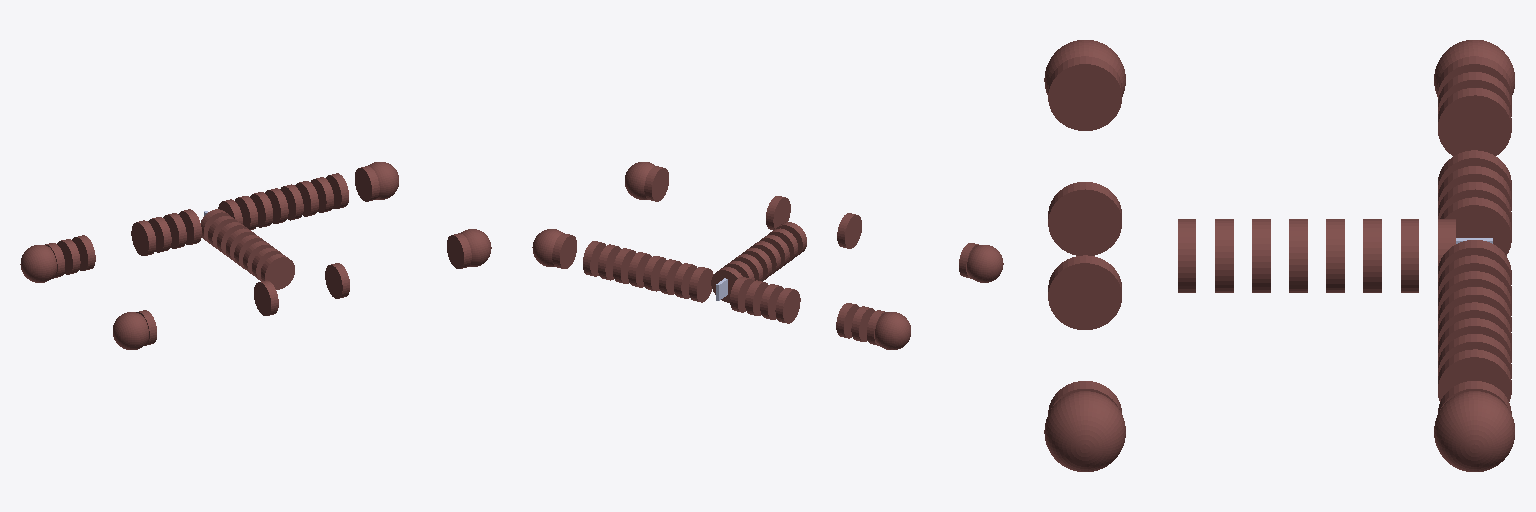
--- Facts derived from the render (not from the file) ---
3 views of the same robot in one strip: view 1: azimuth 30°, elevation 25°; view 2: azimuth 150°, elevation 25°; view 3: azimuth 270°, elevation 25° (orthographic).
Model fullurdf2 with 52 links and 51 joints (45 revolute, 6 fixed), rooted at base_link, posed every joint at zero.
Visible links, largest first — view 1: sec40, sec20, sec50, sec30, sec03, sec12, sec22, sec44, sec42, sec34, sec48, sec36 (+7 smaller); view 2: sec50, sec30, sec40, sec20, sec22, sec44, sec31, sec12, sec49, sec43, sec34, sec41 (+8 smaller); view 3: sec20, sec30, sec40, sec12, sec22, sec48, sec50, sec41, sec38, sec04, sec05, sec06 (+16 smaller).
Link boxes in pixels (box(x1,y1,x2,y2)): sec40: box(355, 162, 398, 201); sec20: box(447, 229, 491, 268); sec50: box(20, 243, 64, 282); sec30: box(113, 310, 156, 349); sec03: box(261, 254, 294, 289); sec12: box(325, 263, 349, 298); sec22: box(254, 280, 278, 315); sec44: box(131, 220, 155, 255); sec42: box(163, 213, 186, 248); sec34: box(265, 188, 288, 223); sec48: box(72, 235, 95, 270); sec36: box(295, 181, 318, 216); sec50: box(867, 310, 910, 349); sec30: box(959, 243, 1003, 282); sec40: box(532, 229, 576, 268); sec20: box(625, 162, 668, 201); sec22: box(837, 213, 861, 248); sec44: box(775, 288, 800, 323); sec31: box(689, 267, 713, 302); sec12: box(766, 196, 790, 229); sec49: box(851, 306, 874, 341); sec43: box(760, 284, 783, 319); sec34: box(643, 256, 666, 291); sec41: box(730, 277, 753, 312); sec20: box(1044, 381, 1125, 471); sec30: box(1044, 40, 1125, 130); sec40: box(1434, 381, 1514, 471); sec12: box(1048, 255, 1121, 329); sec22: box(1048, 182, 1121, 255); sec48: box(1438, 88, 1511, 155); sec50: box(1434, 40, 1514, 101); sec41: box(1440, 197, 1511, 255); sec38: box(1438, 349, 1511, 401); sec04: box(1215, 219, 1233, 292); sec05: box(1252, 219, 1270, 292); sec06: box(1289, 219, 1307, 292).
Size in the robot's own frame: 0.2462 by 0.127 by 0.022 metres.
Meshes: 52 distinct files referenced, 29 mesh visuals loaded (29 binary STL); not drawn: 23 (reference not matched to a file when rendering).

The robot description file, URDF, robot "fullurdf2":
<?xml version="1.0" encoding="utf-8"?>
<!-- This URDF was automatically created by SolidWorks to URDF Exporter! Originally created by Stephen Brawner ([email redacted]) 
     Commit Version: 1.6.0-4-g7f85cfe  Build Version: 1.6.7995.38578
     For more information, please see http://wiki.ros.org/sw_urdf_exporter -->
<robot
  name="fullurdf2">
  <link
    name="base_link">
    <inertial>
      <origin
        xyz="2.27682456221956E-18 -0.005 0"
        rpy="0 0 0" />
      <mass
        value="0.0002" />
      <inertia
        ixx="3.33333333333334E-09"
        ixy="1.72329294281881E-26"
        ixz="3.0309750528515E-26"
        iyy="1.73333333333333E-09"
        iyz="-8.32068698519475E-26"
        izz="1.73333333333333E-09" />
    </inertial>
    <visual>
      <origin
        xyz="0 0 0"
        rpy="0 0 0" />
      <geometry>
        <mesh
          filename="package://fullurdf2/meshes/base_link.STL" />
      </geometry>
      <material
        name="">
        <color
          rgba="0.792156862745098 0.819607843137255 0.933333333333333 1" />
      </material>
    </visual>
    <collision>
      <origin
        xyz="0 0 0"
        rpy="0 0 0" />
      <geometry>
        <mesh
          filename="package://fullurdf2/meshes/base_link.STL" />
      </geometry>
    </collision>
  </link>
  <link
    name="sec01">
    <inertial>
      <origin
        xyz="7.58941520739853E-19 0 0"
        rpy="0 0 0" />
      <mass
        value="0.0139800873084746" />
      <inertia
        ixx="3.7862736460452E-07"
        ixy="4.21411460173609E-39"
        ixz="1.77231475113485E-55"
        iyy="6.99004365423729E-07"
        iyz="6.75401820523941E-40"
        izz="3.7862736460452E-07" />
    </inertial>
    <visual>
      <origin
        xyz="0 0 0"
        rpy="0 0 0" />
      <geometry>
        <mesh
          filename="package://fullurdf2/meshes/sec01.STL" />
      </geometry>
      <material
        name="">
        <color
          rgba="0.537254901960784 0.349019607843137 0.337254901960784 1" />
      </material>
    </visual>
    <collision>
      <origin
        xyz="0 0 0"
        rpy="0 0 0" />
      <geometry>
        <mesh
          filename="package://fullurdf2/meshes/sec01.STL" />
      </geometry>
    </collision>
  </link>
  <joint
    name="joint01"
    type="fixed">
    <origin
      xyz="0 0 0"
      rpy="0 0 0" />
    <parent
      link="base_link" />
    <child
      link="sec01" />
    <axis
      xyz="0 0 0" />
	<dynamics damping="0.00001" friction="0.1"/>
    <limit
      lower="-1.571"
      upper="1.571"
      effort="100"
      velocity="500" />
  </joint>
  <link
    name="sec02">
    <inertial>
      <origin
        xyz="4.33680868994202E-19 0 0"
        rpy="0 0 0" />
      <mass
        value="0.0139800873084746" />
      <inertia
        ixx="3.7862736460452E-07"
        ixy="4.90793830114796E-24"
        ixz="-9.81587660229593E-24"
        iyy="6.99004365423729E-07"
        iyz="-1.22698457528699E-24"
        izz="3.7862736460452E-07" />
    </inertial>
    <visual>
      <origin
        xyz="0 0 0"
        rpy="0 0 0" />
      <geometry>
        <mesh
          filename="package://fullurdf2/meshes/sec02.STL" />
      </geometry>
      <material
        name="">
        <color
          rgba="0.537254901960784 0.349019607843137 0.337254901960784 1" />
      </material>
    </visual>
    <collision>
      <origin
        xyz="0 0 0"
        rpy="0 0 0" />
      <geometry>
        <mesh
          filename="package://fullurdf2/meshes/sec02.STL" />
      </geometry>
    </collision>
  </link>
  <joint
    name="joint02"
    type="revolute">
    <origin
      xyz="0 0.01 0"
      rpy="0 0 0" />
    <parent
      link="sec01" />
    <child
      link="sec02" />
    <axis
      xyz="1 0 0" />
	<dynamics damping="0.00001" friction="0.1"/>
    <limit
      lower="-1.571"
      upper="1.571"
      effort="100"
      velocity="500" />
  </joint>
  <link
    name="sec03">
    <inertial>
      <origin
        xyz="2.71050543121376E-19 0 0"
        rpy="0 0 0" />
      <mass
        value="0.0139800873084746" />
      <inertia
        ixx="3.7862736460452E-07"
        ixy="-4.90793830114797E-24"
        ixz="-3.58892988271445E-23"
        iyy="6.99004365423729E-07"
        iyz="2.45396915057398E-24"
        izz="3.7862736460452E-07" />
    </inertial>
    <visual>
      <origin
        xyz="0 0 0"
        rpy="0 0 0" />
      <geometry>
        <mesh
          filename="package://fullurdf2/meshes/sec03.STL" />
      </geometry>
      <material
        name="">
        <color
          rgba="0.537254901960784 0.349019607843137 0.337254901960784 1" />
      </material>
    </visual>
    <collision>
      <origin
        xyz="0 0 0"
        rpy="0 0 0" />
      <geometry>
        <mesh
          filename="package://fullurdf2/meshes/sec03.STL" />
      </geometry>
    </collision>
  </link>
  <joint
    name="joint03"
    type="revolute">
    <origin
      xyz="0 0.01 0"
      rpy="0 0 0" />
    <parent
      link="sec02" />
    <child
      link="sec03" />
    <axis
      xyz="1 0 0" />
	<dynamics damping="0.00001" friction="0.1"/>
    <limit
      lower="-1.571"
      upper="1.571"
      effort="100"
      velocity="500" />
  </joint>
  <link
    name="sec04">
    <inertial>
      <origin
        xyz="-3.25260651745651E-19 0 0"
        rpy="0 0 0" />
      <mass
        value="0.0139800873084746" />
      <inertia
        ixx="3.7862736460452E-07"
        ixy="4.90793830114798E-24"
        ixz="-4.90793830114797E-23"
        iyy="6.99004365423729E-07"
        iyz="-1.0278932676585E-38"
        izz="3.7862736460452E-07" />
    </inertial>
    <visual>
      <origin
        xyz="0 0 0"
        rpy="0 0 0" />
      <geometry>
        <mesh
          filename="package://fullurdf2/meshes/sec04.STL" />
      </geometry>
      <material
        name="">
        <color
          rgba="0.537254901960784 0.349019607843137 0.337254901960784 1" />
      </material>
    </visual>
    <collision>
      <origin
        xyz="0 0 0"
        rpy="0 0 0" />
      <geometry>
        <mesh
          filename="package://fullurdf2/meshes/sec04.STL" />
      </geometry>
    </collision>
  </link>
  <joint
    name="joint04"
    type="revolute">
    <origin
      xyz="0 0.01 0"
      rpy="0 0 0" />
    <parent
      link="sec03" />
    <child
      link="sec04" />
    <axis
      xyz="1 0 0" />
	<dynamics damping="0.00001" friction="0.1"/>
    <limit
      lower="-1.571"
      upper="1.571"
      effort="100"
      velocity="500" />
  </joint>
  <link
    name="sec05">
    <inertial>
      <origin
        xyz="-2.16840434497101E-19 0 0"
        rpy="0 0 0" />
      <mass
        value="0.0139800873084746" />
      <inertia
        ixx="3.7862736460452E-07"
        ixy="-2.45396915057397E-24"
        ixz="-1.71777840540178E-23"
        iyy="6.99004365423729E-07"
        iyz="-4.20247128011324E-40"
        izz="3.7862736460452E-07" />
    </inertial>
    <visual>
      <origin
        xyz="0 0 0"
        rpy="0 0 0" />
      <geometry>
        <mesh
          filename="package://fullurdf2/meshes/sec05.STL" />
      </geometry>
      <material
        name="">
        <color
          rgba="0.537254901960784 0.349019607843137 0.337254901960784 1" />
      </material>
    </visual>
    <collision>
      <origin
        xyz="0 0 0"
        rpy="0 0 0" />
      <geometry>
        <mesh
          filename="package://fullurdf2/meshes/sec05.STL" />
      </geometry>
    </collision>
  </link>
  <joint
    name="joint05"
    type="revolute">
    <origin
      xyz="0 0.01 0"
      rpy="0 0 0" />
    <parent
      link="sec04" />
    <child
      link="sec05" />
    <axis
      xyz="1 0 0" />
	<dynamics damping="0.00001" friction="0.1"/>
    <limit
      lower="-1.571"
      upper="1.571"
      effort="100"
      velocity="500" />
  </joint>
  <link
    name="sec06">
    <inertial>
      <origin
        xyz="-1.95156391047391E-18 0 -3.46944695195361E-18"
        rpy="0 0 0" />
      <mass
        value="0.0139800873084746" />
      <inertia
        ixx="3.7862736460452E-07"
        ixy="1.22698457528699E-24"
        ixz="-5.67480366070232E-24"
        iyy="6.99004365423729E-07"
        iyz="3.00761747842062E-38"
        izz="3.7862736460452E-07" />
    </inertial>
    <visual>
      <origin
        xyz="0 0 0"
        rpy="0 0 0" />
      <geometry>
        <mesh
          filename="package://fullurdf2/meshes/sec06.STL" />
      </geometry>
      <material
        name="">
        <color
          rgba="0.537254901960784 0.349019607843137 0.337254901960784 1" />
      </material>
    </visual>
    <collision>
      <origin
        xyz="0 0 0"
        rpy="0 0 0" />
      <geometry>
        <mesh
          filename="package://fullurdf2/meshes/sec06.STL" />
      </geometry>
    </collision>
  </link>
  <joint
    name="joint06"
    type="revolute">
    <origin
      xyz="0 0.01 0"
      rpy="0 0 0" />
    <parent
      link="sec05" />
    <child
      link="sec06" />
    <axis
      xyz="1 0 0" />
	<dynamics damping="0.00001" friction="0.1"/>
    <limit
      lower="-1.571"
      upper="1.571"
      effort="100"
      velocity="500" />
  </joint>
  <link
    name="sec07">
    <inertial>
      <origin
        xyz="-1.84314369322536E-18 0 -1.73472347597681E-18"
        rpy="0 0 0" />
      <mass
        value="0.0139800873084746" />
      <inertia
        ixx="3.7862736460452E-07"
        ixy="-1.67610990985475E-38"
        ixz="2.09237994446367E-37"
        iyy="6.99004365423729E-07"
        iyz="1.68127027333929E-38"
        izz="3.7862736460452E-07" />
    </inertial>
    <visual>
      <origin
        xyz="0 0 0"
        rpy="0 0 0" />
      <geometry>
        <mesh
          filename="package://fullurdf2/meshes/sec07.STL" />
      </geometry>
      <material
        name="">
        <color
          rgba="0.537254901960784 0.349019607843137 0.337254901960784 1" />
      </material>
    </visual>
    <collision>
      <origin
        xyz="0 0 0"
        rpy="0 0 0" />
      <geometry>
        <mesh
          filename="package://fullurdf2/meshes/sec07.STL" />
      </geometry>
    </collision>
  </link>
  <joint
    name="joint07"
    type="revolute">
    <origin
      xyz="0 0.01 0"
      rpy="0 0 0" />
    <parent
      link="sec06" />
    <child
      link="sec07" />
    <axis
      xyz="1 0 0" />
	<dynamics damping="0.00001" friction="0.1"/>
    <limit
      lower="-1.571"
      upper="1.571"
      effort="100"
      velocity="500" />
  </joint>
  <link
    name="sec08">
    <inertial>
      <origin
        xyz="-1.62630325872826E-18 0 -1.73472347597681E-18"
        rpy="0 0 0" />
      <mass
        value="0.0139800873084746" />
      <inertia
        ixx="3.7862736460452E-07"
        ixy="-2.45396915057397E-24"
        ixz="-8.82039613106783E-40"
        iyy="6.99004365423729E-07"
        iyz="1.46923067573066E-39"
        izz="3.7862736460452E-07" />
    </inertial>
    <visual>
      <origin
        xyz="0 0 0"
        rpy="0 0 0" />
      <geometry>
        <mesh
          filename="package://fullurdf2/meshes/sec08.STL" />
      </geometry>
      <material
        name="">
        <color
          rgba="0.537254901960784 0.349019607843137 0.337254901960784 1" />
      </material>
    </visual>
    <collision>
      <origin
        xyz="0 0 0"
        rpy="0 0 0" />
      <geometry>
        <mesh
          filename="package://fullurdf2/meshes/sec08.STL" />
      </geometry>
    </collision>
  </link>
  <joint
    name="joint08"
    type="revolute">
    <origin
      xyz="0 0.01 0"
      rpy="0 0 0" />
    <parent
      link="sec07" />
    <child
      link="sec08" />
    <axis
      xyz="1 0 0" />
	<dynamics damping="0.00001" friction="0.1"/>
    <limit
      lower="-1.571"
      upper="1.571"
      effort="100"
      velocity="500" />
  </joint>
  <link
    name="sec09">
    <inertial>
      <origin
        xyz="-1.68051336735253E-18 0 0"
        rpy="0 0 0" />
      <mass
        value="0.0139800873084746" />
      <inertia
        ixx="3.7862736460452E-07"
        ixy="5.11563180875594E-40"
        ixz="3.92635064091837E-23"
        iyy="6.9900436542373E-07"
        iyz="-2.95351140186029E-40"
        izz="3.7862736460452E-07" />
    </inertial>
    <visual>
      <origin
        xyz="0 0 0"
        rpy="0 0 0" />
      <geometry>
        <mesh
          filename="package://fullurdf2/meshes/sec09.STL" />
      </geometry>
      <material
        name="">
        <color
          rgba="0.537254901960784 0.349019607843137 0.337254901960784 1" />
      </material>
    </visual>
    <collision>
      <origin
        xyz="0 0 0"
        rpy="0 0 0" />
      <geometry>
        <mesh
          filename="package://fullurdf2/meshes/sec09.STL" />
      </geometry>
    </collision>
  </link>
  <joint
    name="joint09"
    type="revolute">
    <origin
      xyz="0 0.01 0"
      rpy="0 0 0" />
    <parent
      link="sec08" />
    <child
      link="sec09" />
    <axis
      xyz="1 0 0" />
	<dynamics damping="0.00001" friction="0.1"/>
    <limit
      lower="-1.571"
      upper="1.571"
      effort="100"
      velocity="500" />
  </joint>
  <link
    name="sec10">
    <inertial>
      <origin
        xyz="-3.41523684332934E-18 0 0"
        rpy="0 0 0" />
      <mass
        value="0.0139800873084746" />
      <inertia
        ixx="3.7862736460452E-07"
        ixy="9.81587660229594E-24"
        ixz="6.13492287643496E-23"
        iyy="6.9900436542373E-07"
        iyz="4.90793830114797E-24"
        izz="3.7862736460452E-07" />
    </inertial>
    <visual>
      <origin
        xyz="0 0 0"
        rpy="0 0 0" />
      <geometry>
        <mesh
          filename="package://fullurdf2/meshes/sec10.STL" />
      </geometry>
      <material
        name="">
        <color
          rgba="0.537254901960784 0.349019607843137 0.337254901960784 1" />
      </material>
    </visual>
    <collision>
      <origin
        xyz="0 0 0"
        rpy="0 0 0" />
      <geometry>
        <mesh
          filename="package://fullurdf2/meshes/sec10.STL" />
      </geometry>
    </collision>
  </link>
  <joint
    name="joint10"
    type="revolute">
    <origin
      xyz="0 0.01 0"
      rpy="0 0 0" />
    <parent
      link="sec09" />
    <child
      link="sec10" />
    <axis
      xyz="1 0 0" />
	<dynamics damping="0.00001" friction="0.1"/>
    <limit
      lower="-1.571"
      upper="1.571"
      effort="100"
      velocity="500" />
  </joint>
  <link
    name="base02">
    <inertial>
      <origin
        xyz="-4.55364912443912E-18 0.01 0"
        rpy="0 0 0" />
      <mass
        value="0.0002" />
      <inertia
        ixx="3.33333333333334E-09"
        ixy="1.13745407508819E-26"
        ixz="-5.93103932846684E-26"
        iyy="1.73333333333334E-09"
        iyz="4.82446101602762E-25"
        izz="1.73333333333334E-09" />
    </inertial>
    <visual>
      <origin
        xyz="0 0 0"
        rpy="0 0 0" />
      <geometry>
        <mesh
          filename="package://fullurdf2/meshes/base02.STL" />
      </geometry>
      <material
        name="">
        <color
          rgba="0.792156862745098 0.819607843137255 0.933333333333333 1" />
      </material>
    </visual>
    <collision>
      <origin
        xyz="0 0 0"
        rpy="0 0 0" />
      <geometry>
        <mesh
          filename="package://fullurdf2/meshes/base02.STL" />
      </geometry>
    </collision>
  </link>
  <joint
    name="basejoint02"
    type="fixed">
    <origin
      xyz="0 0 0"
      rpy="0 0 0" />
    <parent
      link="sec10" />
    <child
      link="base02" />
    <axis
      xyz="0 0 0" />
  </joint>
  <link
    name="sec31">
    <inertial>
      <origin
        xyz="0.0025 -1.38777878078145E-17 0"
        rpy="0 0 0" />
      <mass
        value="0.0139800873084746" />
      <inertia
        ixx="6.99004365423729E-07"
        ixy="-1.43749224972972E-23"
        ixz="1.20526705403392E-22"
        iyy="3.7862736460452E-07"
        iyz="-3.92635064091837E-23"
        izz="3.7862736460452E-07" />
    </inertial>
    <visual>
      <origin
        xyz="0 0 0"
        rpy="0 0 0" />
      <geometry>
        <mesh
          filename="package://fullurdf2/meshes/sec31.STL" />
      </geometry>
      <material
        name="">
        <color
          rgba="0.537254901960784 0.349019607843137 0.337254901960784 1" />
      </material>
    </visual>
    <collision>
      <origin
        xyz="0 0 0"
        rpy="0 0 0" />
      <geometry>
        <mesh
          filename="package://fullurdf2/meshes/sec31.STL" />
      </geometry>
    </collision>
  </link>
  <joint
    name="joint31"
    type="fixed">
    <origin
      xyz="0.011 0.01 0"
      rpy="-1.571 0 0" />
    <parent
      link="base02" />
    <child
      link="sec31" />
    <axis
      xyz="1 0 0" />
	<dynamics damping="0.00001" friction="0.1"/>
    <limit
      lower="-1.571"
      upper="1.571"
      effort="100"
      velocity="500" />
  </joint>
  <link
    name="sec32">
    <inertial>
      <origin
        xyz="0.0025 0 0"
        rpy="0 0 0" />
      <mass
        value="0.0139800873084746" />
      <inertia
        ixx="6.9900436542373E-07"
        ixy="-1.43749224972972E-23"
        ixz="1.20526705403392E-22"
        iyy="3.7862736460452E-07"
        iyz="-5.07664868024993E-23"
        izz="3.7862736460452E-07" />
    </inertial>
    <visual>
      <origin
        xyz="0 0 0"
        rpy="0 0 0" />
      <geometry>
        <mesh
          filename="package://fullurdf2/meshes/sec32.STL" />
      </geometry>
      <material
        name="">
        <color
          rgba="0.537254901960784 0.349019607843137 0.337254901960784 1" />
      </material>
    </visual>
    <collision>
      <origin
        xyz="0 0 0"
        rpy="0 0 0" />
      <geometry>
        <mesh
          filename="package://fullurdf2/meshes/sec32.STL" />
      </geometry>
    </collision>
  </link>
  <joint
    name="joint32"
    type="revolute">
    <origin
      xyz="0.01 0 0"
      rpy="0 0 0" />
    <parent
      link="sec31" />
    <child
      link="sec32" />
    <axis
      xyz="0 0 1" />
	<dynamics damping="0.00001" friction="0.1"/>
    <limit
      lower="-1.571"
      upper="1.571"
      effort="100"
      velocity="500" />
  </joint>
  <link
    name="sec33">
    <inertial>
      <origin
        xyz="0.0025 0 -5.20417042793042E-18"
        rpy="0 0 0" />
      <mass
        value="0.0139800873084746" />
      <inertia
        ixx="6.99004365423729E-07"
        ixy="-9.46698419614924E-24"
        ixz="1.22980674553966E-22"
        iyy="3.7862736460452E-07"
        iyz="-5.07664868024992E-23"
        izz="3.7862736460452E-07" />
    </inertial>
    <visual>
      <origin
        xyz="0 0 0"
        rpy="0 0 0" />
      <geometry>
        <mesh
          filename="package://fullurdf2/meshes/sec33.STL" />
      </geometry>
      <material
        name="">
        <color
          rgba="0.537254901960784 0.349019607843137 0.337254901960784 1" />
      </material>
    </visual>
    <collision>
      <origin
        xyz="0 0 0"
        rpy="0 0 0" />
      <geometry>
        <mesh
          filename="package://fullurdf2/meshes/sec33.STL" />
      </geometry>
    </collision>
  </link>
  <joint
    name="joint33"
    type="revolute">
    <origin
      xyz="0.01 0 0"
      rpy="0 0 0" />
    <parent
      link="sec32" />
    <child
      link="sec33" />
    <axis
      xyz="0 0 1" />
	<dynamics damping="0.00001" friction="0.1"/>
    <limit
      lower="-1.571"
      upper="1.571"
      effort="100"
      velocity="500" />
  </joint>
  <link
    name="sec34">
    <inertial>
      <origin
        xyz="0.00249999999999999 0 -6.93889390390723E-18"
        rpy="0 0 0" />
      <mass
        value="0.0139800873084746" />
      <inertia
        ixx="6.99004365423729E-07"
        ixy="-9.46698419614924E-24"
        ixz="1.22980674553966E-22"
        iyy="3.7862736460452E-07"
        iyz="-5.07664868024993E-23"
        izz="3.7862736460452E-07" />
    </inertial>
    <visual>
      <origin
        xyz="0 0 0"
        rpy="0 0 0" />
      <geometry>
        <mesh
          filename="package://fullurdf2/meshes/sec34.STL" />
      </geometry>
      <material
        name="">
        <color
          rgba="0.537254901960784 0.349019607843137 0.337254901960784 1" />
      </material>
    </visual>
    <collision>
      <origin
        xyz="0 0 0"
        rpy="0 0 0" />
      <geometry>
        <mesh
          filename="package://fullurdf2/meshes/sec34.STL" />
      </geometry>
    </collision>
  </link>
  <joint
    name="joint34"
    type="revolute">
    <origin
      xyz="0.01 0 0"
      rpy="0 0 0" />
    <parent
      link="sec33" />
    <child
      link="sec34" />
    <axis
      xyz="0 0 1" />
	<dynamics damping="0.00001" friction="0.1"/>
    <limit
      lower="-1.571"
      upper="1.571"
      effort="100"
      velocity="500" />
  </joint>
  <link
    name="sec35">
    <inertial>
      <origin
        xyz="0.0025 0 -5.20417042793042E-18"
        rpy="0 0 0" />
      <mass
        value="0.0139800873084746" />
      <inertia
        ixx="6.99004365423729E-07"
        ixy="-1.43749224972973E-23"
        ixz="1.2543464370454E-22"
        iyy="3.7862736460452E-07"
        iyz="-5.07664868024992E-23"
        izz="3.7862736460452E-07" />
    </inertial>
    <visual>
      <origin
        xyz="0 0 0"
        rpy="0 0 0" />
      <geometry>
        <mesh
          filename="package://fullurdf2/meshes/sec35.STL" />
      </geometry>
      <material
        name="">
        <color
          rgba="0.537254901960784 0.349019607843137 0.337254901960784 1" />
      </material>
    </visual>
    <collision>
      <origin
        xyz="0 0 0"
        rpy="0 0 0" />
      <geometry>
        <mesh
          filename="package://fullurdf2/meshes/sec35.STL" />
      </geometry>
    </collision>
  </link>
  <joint
    name="joint35"
    type="revolute">
    <origin
      xyz="0.01 0 0"
      rpy="0 0 0" />
    <parent
      link="sec34" />
    <child
      link="sec35" />
    <axis
      xyz="0 0 1" />
	<dynamics damping="0.00001" friction="0.1"/>
    <limit
      lower="-1.571"
      upper="1.571"
      effort="100"
      velocity="500" />
  </joint>
  <link
    name="sec36">
    <inertial>
      <origin
        xyz="0.0025 1.38777878078145E-17 -5.20417042793042E-18"
        rpy="0 0 0" />
      <mass
        value="0.0139800873084746" />
      <inertia
        ixx="6.9900436542373E-07"
        ixy="-1.43749224972972E-23"
        ixz="1.22980674553966E-22"
        iyy="3.7862736460452E-07"
        iyz="-5.07664868024992E-23"
        izz="3.7862736460452E-07" />
    </inertial>
    <visual>
      <origin
        xyz="0 0 0"
        rpy="0 0 0" />
      <geometry>
        <mesh
          filename="package://fullurdf2/meshes/sec36.STL" />
      </geometry>
      <material
        name="">
        <color
          rgba="0.537254901960784 0.349019607843137 0.337254901960784 1" />
      </material>
    </visual>
    <collision>
      <origin
        xyz="0 0 0"
        rpy="0 0 0" />
      <geometry>
        <mesh
          filename="package://fullurdf2/meshes/sec36.STL" />
      </geometry>
    </collision>
  </link>
  <joint
    name="joint36"
    type="revolute">
    <origin
      xyz="0.01 0 0"
      rpy="0 0 0" />
    <parent
      link="sec35" />
    <child
      link="sec36" />
    <axis
      xyz="0 0 1" />
	<dynamics damping="0.00001" friction="0.1"/>
    <limit
      lower="-1.571"
      upper="1.571"
      effort="100"
      velocity="500" />
  </joint>
  <link
    name="sec37">
    <inertial>
      <origin
        xyz="0.0025 1.38777878078145E-17 -5.20417042793042E-18"
        rpy="0 0 0" />
      <mass
        value="0.0139800873084746" />
      <inertia
        ixx="6.9900436542373E-07"
        ixy="-1.43749224972972E-23"
        ixz="1.22980674553966E-22"
        iyy="3.7862736460452E-07"
        iyz="-5.07664868024992E-23"
        izz="3.7862736460452E-07" />
    </inertial>
    <visual>
      <origin
        xyz="0 0 0"
        rpy="0 0 0" />
      <geometry>
        <mesh
          filename="package://fullurdf2/meshes/sec37.STL" />
      </geometry>
      <material
        name="">
        <color
          rgba="0.537254901960784 0.349019607843137 0.337254901960784 1" />
      </material>
    </visual>
    <collision>
      <origin
        xyz="0 0 0"
        rpy="0 0 0" />
      <geometry>
        <mesh
          filename="package://fullurdf2/meshes/sec37.STL" />
      </geometry>
    </collision>
  </link>
  <joint
    name="joint37"
    type="revolute">
    <origin
      xyz="0.01 0 0"
      rpy="0 0 0" />
    <parent
      link="sec36" />
    <child
      link="sec37" />
    <axis
      xyz="0 0 1" />
	<dynamics damping="0.00001" friction="0.1"/>
    <limit
      lower="-1.571"
      upper="1.571"
      effort="100"
      velocity="500" />
  </joint>
  <link
    name="sec38">
    <inertial>
      <origin
        xyz="0.0025 1.38777878078145E-17 -5.20417042793042E-18"
        rpy="0 0 0" />
      <mass
        value="0.0139800873084746" />
      <inertia
        ixx="6.9900436542373E-07"
        ixy="-1.43749224972972E-23"
        ixz="1.2543464370454E-22"
        iyy="3.7862736460452E-07"
        iyz="-5.07664868024993E-23"
        izz="3.7862736460452E-07" />
    </inertial>
    <visual>
      <origin
        xyz="0 0 0"
        rpy="0 0 0" />
      <geometry>
        <mesh
          filename="package://fullurdf2/meshes/sec38.STL" />
      </geometry>
      <material
        name="">
        <color
          rgba="0.537254901960784 0.349019607843137 0.337254901960784 1" />
      </material>
    </visual>
    <collision>
      <origin
        xyz="0 0 0"
        rpy="0 0 0" />
      <geometry>
        <mesh
          filename="package://fullurdf2/meshes/sec38.STL" />
      </geometry>
    </collision>
  </link>
  <joint
    name="joint38"
    type="revolute">
    <origin
      xyz="0.01 0 0"
      rpy="0 0 0" />
    <parent
      link="sec37" />
    <child
      link="sec38" />
    <axis
      xyz="0 0 1" />
	<dynamics damping="0.00001" friction="0.1"/>
    <limit
      lower="-1.571"
      upper="1.571"
      effort="100"
      velocity="500" />
  </joint>
  <link
    name="sec39">
    <inertial>
      <origin
        xyz="0.0025 1.3878E-17 -6.9389E-18"
        rpy="0 0 0" />
      <mass
        value="0.01398" />
      <inertia
        ixx="6.99E-07"
        ixy="-1.4375E-23"
        ixz="1.2298E-22"
        iyy="3.7863E-07"
        iyz="-5.0766E-23"
        izz="3.7863E-07" />
    </inertial>
    <visual>
      <origin
        xyz="0 0 0"
        rpy="0 0 0" />
      <geometry>
        <mesh
          filename="package://fullurdf2/meshes/sec39.STL" />
      </geometry>
      <material
        name="">
        <color
          rgba="0.53725 0.34902 0.33725 1" />
      </material>
    </visual>
    <collision>
      <origin
        xyz="0 0 0"
        rpy="0 0 0" />
      <geometry>
        <mesh
          filename="package://fullurdf2/meshes/sec39.STL" />
      </geometry>
    </collision>
  </link>
  <joint
    name="joint39"
    type="revolute">
    <origin
      xyz="0.01 0 0"
      rpy="0 0 0" />
    <parent
      link="sec38" />
    <child
      link="sec39" />
    <axis
      xyz="0 0 1" />
	<dynamics damping="0.00001" friction="0.1"/>
    <limit
      lower="-1.571"
      upper="1.571"
      effort="100"
      velocity="500" />
  </joint>
  <link
    name="sec40">
    <inertial>
      <origin
        xyz="0.0098619 -1.3878E-17 -3.4694E-18"
        rpy="0 0 0" />
      <mass
        value="0.057326" />
      <inertia
        ixx="2.9166E-06"
        ixy="6.5493E-24"
        ixz="3.6283E-22"
        iyy="2.2417E-06"
        iyz="1.6868E-23"
        izz="2.2417E-06" />
    </inertial>
    <visual>
      <origin
        xyz="0 0 0"
        rpy="0 0 0" />
      <geometry>
        <mesh
          filename="package://fullurdf2/meshes/sec40.STL" />
      </geometry>
      <material
        name="">
        <color
          rgba="0.53725 0.34902 0.33725 1" />
      </material>
    </visual>
    <collision>
      <origin
        xyz="0 0 0"
        rpy="0 0 0" />
      <geometry>
        <mesh
          filename="package://fullurdf2/meshes/sec40.STL" />
      </geometry>
    </collision>
  </link>
  <joint
    name="joint40"
    type="revolute">
    <origin
      xyz="0.01 0 0"
      rpy="0 0 0" />
    <parent
      link="sec39" />
    <child
      link="sec40" />
    <axis
      xyz="0 0 1" />
	<dynamics damping="0.00001" friction="0.1"/>
    <limit
      lower="-1.571"
      upper="1.571"
      effort="100"
      velocity="500" />
  </joint>
  <link
    name="sec41">
    <inertial>
      <origin
        xyz="-0.0025 -1.38777878078145E-17 -1.73472347597681E-18"
        rpy="0 0 0" />
      <mass
        value="0.0139800873084746" />
      <inertia
        ixx="6.99004365423729E-07"
        ixy="3.53648198512507E-25"
        ixz="-3.48660332929381E-23"
        iyy="3.7862736460452E-07"
        iyz="1.62575456225526E-23"
        izz="3.7862736460452E-07" />
    </inertial>
    <visual>
      <origin
        xyz="0 0 0"
        rpy="0 0 0" />
      <geometry>
        <mesh
          filename="package://fullurdf2/meshes/sec41.STL" />
      </geometry>
      <material
        name="">
        <color
          rgba="0.537254901960784 0.349019607843137 0.337254901960784 1" />
      </material>
    </visual>
    <collision>
      <origin
        xyz="0 0 0"
        rpy="0 0 0" />
      <geometry>
        <mesh
          filename="package://fullurdf2/meshes/sec41.STL" />
      </geometry>
    </collision>
  </link>
  <joint
    name="joint41"
    type="fixed">
    <origin
      xyz="-0.011 0.01 0"
      rpy="1.571 0 0" />
    <parent
      link="base02" />
    <child
      link="sec41" />
    <axis
      xyz="1 0 1" />
	<dynamics damping="0.00001" friction="0.1"/>
    <limit
      lower="-1.571"
      upper="1.571"
      effort="100"
      velocity="500" />
  </joint>
  <link
    name="sec42">
    <inertial>
      <origin
        xyz="-0.0025 0 -5.20417042793042E-18"
        rpy="0 0 0" />
      <mass
        value="0.0139800873084746" />
      <inertia
        ixx="6.99004365423729E-07"
        ixy="3.53648198512512E-25"
        ixz="-3.48660332929381E-23"
        iyy="3.7862736460452E-07"
        iyz="-3.7729775690075E-23"
        izz="3.7862736460452E-07" />
    </inertial>
    <visual>
      <origin
        xyz="0 0 0"
        rpy="0 0 0" />
      <geometry>
        <mesh
          filename="package://fullurdf2/meshes/sec42.STL" />
      </geometry>
      <material
        name="">
        <color
          rgba="0.537254901960784 0.349019607843137 0.337254901960784 1" />
      </material>
    </visual>
    <collision>
      <origin
        xyz="0 0 0"
        rpy="0 0 0" />
      <geometry>
        <mesh
          filename="package://fullurdf2/meshes/sec42.STL" />
      </geometry>
    </collision>
  </link>
  <joint
    name="joint42"
    type="revolute">
    <origin
      xyz="-0.01 0 0"
      rpy="0 0 0" />
    <parent
      link="sec41" />
    <child
      link="sec42" />
    <axis
      xyz="0 0 1" />
	<dynamics damping="0.00001" friction="0.1"/>
    <limit
      lower="-1.571"
      upper="1.571"
      effort="100"
      velocity="500" />
  </joint>
  <link
    name="sec43">
    <inertial>
      <origin
        xyz="-0.0025 0 -6.93889390390723E-18"
        rpy="0 0 0" />
      <mass
        value="0.0139800873084746" />
      <inertia
        ixx="6.99004365423729E-07"
        ixy="5.26158649966047E-24"
        ixz="-4.4681909895234E-23"
        iyy="3.7862736460452E-07"
        iyz="-1.07361150337611E-23"
        izz="3.7862736460452E-07" />
    </inertial>
    <visual>
      <origin
        xyz="0 0 0"
        rpy="0 0 0" />
      <geometry>
        <mesh
          filename="package://fullurdf2/meshes/sec43.STL" />
      </geometry>
      <material
        name="">
        <color
          rgba="0.537254901960784 0.349019607843137 0.337254901960784 1" />
      </material>
    </visual>
    <collision>
      <origin
        xyz="0 0 0"
        rpy="0 0 0" />
      <geometry>
        <mesh
          filename="package://fullurdf2/meshes/sec43.STL" />
      </geometry>
    </collision>
  </link>
  <joint
    name="joint43"
    type="revolute">
    <origin
      xyz="-0.01 0 0"
      rpy="0 0 0" />
    <parent
      link="sec42" />
    <child
      link="sec43" />
    <axis
      xyz="0 0 1" />
	<dynamics damping="0.00001" friction="0.1"/>
    <limit
      lower="-1.571"
      upper="1.571"
      effort="100"
      velocity="500" />
  </joint>
  <link
    name="sec44">
    <inertial>
      <origin
        xyz="-0.0025 0 -5.20417042793042E-18"
        rpy="0 0 0" />
      <mass
        value="0.0139800873084746" />
      <inertia
        ixx="6.99004365423729E-07"
        ixy="2.80761734908649E-24"
        ixz="-3.9773971594086E-23"
        iyy="3.7862736460452E-07"
        iyz="1.62575456225526E-23"
        izz="3.7862736460452E-07" />
    </inertial>
    <visual>
      <origin
        xyz="0 0 0"
        rpy="0 0 0" />
      <geometry>
        <mesh
          filename="package://fullurdf2/meshes/sec44.STL" />
      </geometry>
      <material
        name="">
        <color
          rgba="0.537254901960784 0.349019607843137 0.337254901960784 1" />
      </material>
    </visual>
    <collision>
      <origin
        xyz="0 0 0"
        rpy="0 0 0" />
      <geometry>
        <mesh
          filename="package://fullurdf2/meshes/sec44.STL" />
      </geometry>
    </collision>
  </link>
  <joint
    name="joint44"
    type="revolute">
    <origin
      xyz="-0.01 0 0"
      rpy="0 0 0" />
    <parent
      link="sec43" />
    <child
      link="sec44" />
    <axis
      xyz="0 0 1" />
	<dynamics damping="0.00001" friction="0.1"/>
    <limit
      lower="-1.571"
      upper="1.571"
      effort="100"
      velocity="500" />
  </joint>
  <link
    name="sec45">
    <inertial>
      <origin
        xyz="-0.0025 0 -5.20417042793042E-18"
        rpy="0 0 0" />
      <mass
        value="0.0139800873084746" />
      <inertia
        ixx="6.99004365423729E-07"
        ixy="2.80761734908649E-24"
        ixz="-3.9773971594086E-23"
        iyy="3.7862736460452E-07"
        iyz="-3.7729775690075E-23"
        izz="3.7862736460452E-07" />
    </inertial>
    <visual>
      <origin
        xyz="0 0 0"
        rpy="0 0 0" />
      <geometry>
        <mesh
          filename="package://fullurdf2/meshes/sec45.STL" />
      </geometry>
      <material
        name="">
        <color
          rgba="0.537254901960784 0.349019607843137 0.337254901960784 1" />
      </material>
    </visual>
    <collision>
      <origin
        xyz="0 0 0"
        rpy="0 0 0" />
      <geometry>
        <mesh
          filename="package://fullurdf2/meshes/sec45.STL" />
      </geometry>
    </collision>
  </link>
  <joint
    name="joint45"
    type="revolute">
    <origin
      xyz="-0.01 0 0"
      rpy="0 0 0" />
    <parent
      link="sec44" />
    <child
      link="sec45" />
    <axis
      xyz="0 0 1" />
	<dynamics damping="0.00001" friction="0.1"/>
    <limit
      lower="-1.571"
      upper="1.571"
      effort="100"
      velocity="500" />
  </joint>
  <link
    name="sec46">
    <inertial>
      <origin
        xyz="-0.0025 0 -6.93889390390723E-18"
        rpy="0 0 0" />
      <mass
        value="0.0139800873084746" />
      <inertia
        ixx="6.99004365423729E-07"
        ixy="2.8076173490865E-24"
        ixz="-4.4681909895234E-23"
        iyy="3.7862736460452E-07"
        iyz="-1.07361150337612E-23"
        izz="3.7862736460452E-07" />
    </inertial>
    <visual>
      <origin
        xyz="0 0 0"
        rpy="0 0 0" />
      <geometry>
        <mesh
          filename="package://fullurdf2/meshes/sec46.STL" />
      </geometry>
      <material
        name="">
        <color
          rgba="0.537254901960784 0.349019607843137 0.337254901960784 1" />
      </material>
    </visual>
    <collision>
      <origin
        xyz="0 0 0"
        rpy="0 0 0" />
      <geometry>
        <mesh
          filename="package://fullurdf2/meshes/sec46.STL" />
      </geometry>
    </collision>
  </link>
  <joint
    name="joint46"
    type="revolute">
    <origin
      xyz="-0.01 0 0"
      rpy="0 0 0" />
    <parent
      link="sec45" />
    <child
      link="sec46" />
    <axis
      xyz="0 0 1" />
	<dynamics damping="0.00001" friction="0.1"/>
    <limit
      lower="-1.571"
      upper="1.571"
      effort="100"
      velocity="500" />
  </joint>
  <link
    name="sec47">
    <inertial>
      <origin
        xyz="-0.0025 0 -5.20417042793042E-18"
        rpy="0 0 0" />
      <mass
        value="0.0139800873084746" />
      <inertia
        ixx="6.9900436542373E-07"
        ixy="2.8076173490865E-24"
        ixz="-3.48660332929381E-23"
        iyy="3.7862736460452E-07"
        iyz="4.75456522923716E-24"
        izz="3.7862736460452E-07" />
    </inertial>
    <visual>
      <origin
        xyz="0 0 0"
        rpy="0 0 0" />
      <geometry>
        <mesh
          filename="package://fullurdf2/meshes/sec47.STL" />
      </geometry>
      <material
        name="">
        <color
          rgba="0.537254901960784 0.349019607843137 0.337254901960784 1" />
      </material>
    </visual>
    <collision>
      <origin
        xyz="0 0 0"
        rpy="0 0 0" />
      <geometry>
        <mesh
          filename="package://fullurdf2/meshes/sec47.STL" />
      </geometry>
    </collision>
  </link>
  <joint
    name="joint47"
    type="revolute">
    <origin
      xyz="-0.01 0 0"
      rpy="0 0 0" />
    <parent
      link="sec46" />
    <child
      link="sec47" />
    <axis
      xyz="0 0 1" />
	<dynamics damping="0.00001" friction="0.1"/>
    <limit
      lower="-1.571"
      upper="1.571"
      effort="100"
      velocity="500" />
  </joint>
  <link
    name="sec48">
    <inertial>
      <origin
        xyz="-0.0025 1.38777878078145E-17 -5.20417042793042E-18"
        rpy="0 0 0" />
      <mass
        value="0.0139800873084746" />
      <inertia
        ixx="6.9900436542373E-07"
        ixy="3.53648198512522E-25"
        ixz="-3.48660332929381E-23"
        iyy="3.7862736460452E-07"
        iyz="-4.92327560833906E-23"
        izz="3.7862736460452E-07" />
    </inertial>
    <visual>
      <origin
        xyz="0 0 0"
        rpy="0 0 0" />
      <geometry>
        <mesh
          filename="package://fullurdf2/meshes/sec48.STL" />
      </geometry>
      <material
        name="">
        <color
          rgba="0.537254901960784 0.349019607843137 0.337254901960784 1" />
      </material>
    </visual>
    <collision>
      <origin
        xyz="0 0 0"
        rpy="0 0 0" />
      <geometry>
        <mesh
          filename="package://fullurdf2/meshes/sec48.STL" />
      </geometry>
    </collision>
  </link>
  <joint
    name="joint48"
    type="revolute">
    <origin
      xyz="-0.01 0 0"
      rpy="0 0 0" />
    <parent
      link="sec47" />
    <child
      link="sec48" />
    <axis
      xyz="0 0 1" />
	<dynamics damping="0.00001" friction="0.1"/>
    <limit
      lower="-1.571"
      upper="1.571"
      effort="100"
      velocity="500" />
  </joint>
  <link
    name="sec49">
    <inertial>
      <origin
        xyz="-0.0025 0 -5.20417042793042E-18"
        rpy="0 0 0" />
      <mass
        value="0.0139800873084746" />
      <inertia
        ixx="6.9900436542373E-07"
        ixy="2.80761734908651E-24"
        ixz="-3.97739715940861E-23"
        iyy="3.7862736460452E-07"
        iyz="-2.22390954270767E-23"
        izz="3.7862736460452E-07" />
    </inertial>
    <visual>
      <origin
        xyz="0 0 0"
        rpy="0 0 0" />
      <geometry>
        <mesh
          filename="package://fullurdf2/meshes/sec49.STL" />
      </geometry>
      <material
        name="">
        <color
          rgba="0.537254901960784 0.349019607843137 0.337254901960784 1" />
      </material>
    </visual>
    <collision>
      <origin
        xyz="0 0 0"
        rpy="0 0 0" />
      <geometry>
        <mesh
          filename="package://fullurdf2/meshes/sec49.STL" />
      </geometry>
    </collision>
  </link>
  <joint
    name="joint49"
    type="revolute">
    <origin
      xyz="-0.01 0 0"
      rpy="0 0 0" />
    <parent
      link="sec48" />
    <child
      link="sec49" />
    <axis
      xyz="0 0 1" />
	<dynamics damping="0.00001" friction="0.1"/>
    <limit
      lower="-1.571"
      upper="1.571"
      effort="100"
      velocity="500" />
  </joint>
  <link
    name="sec50">
    <inertial>
      <origin
        xyz="-0.0098619 1.3878E-17 3.4694E-18"
        rpy="0 0 0" />
      <mass
        value="0.057326" />
      <inertia
        ixx="2.9166E-06"
        ixy="-5.3744E-23"
        ixz="1.0238E-22"
        iyy="2.2417E-06"
        iyz="-6.241E-23"
        izz="2.2417E-06" />
    </inertial>
    <visual>
      <origin
        xyz="0 0 0"
        rpy="0 0 0" />
      <geometry>
        <mesh
          filename="package://fullurdf2/meshes/sec50.STL" />
      </geometry>
      <material
        name="">
        <color
          rgba="0.53725 0.34902 0.33725 1" />
      </material>
    </visual>
    <collision>
      <origin
        xyz="0 0 0"
        rpy="0 0 0" />
      <geometry>
        <mesh
          filename="package://fullurdf2/meshes/sec50.STL" />
      </geometry>
    </collision>
  </link>
  <joint
    name="joint50"
    type="revolute">
    <origin
      xyz="-0.01 0 0"
      rpy="0 0 0" />
    <parent
      link="sec49" />
    <child
      link="sec50" />
    <axis
      xyz="0 0 1" />
	<dynamics damping="0.00001" friction="0.1"/>
    <limit
      lower="-1.571"
      upper="1.571"
      effort="100"
      velocity="500" />
  </joint>
  <link
    name="sec11">
    <inertial>
      <origin
        xyz="0.0025 -1.7347E-18 0"
        rpy="0 0 0" />
      <mass
        value="0.01398" />
      <inertia
        ixx="6.99E-07"
        ixy="-1.2747E-39"
        ixz="8.4139E-39"
        iyy="3.7863E-07"
        iyz="2.3773E-23"
        izz="3.7863E-07" />
    </inertial>
    <visual>
      <origin
        xyz="0 0 0"
        rpy="0 0 0" />
      <geometry>
        <mesh
          filename="package://fullurdf2/meshes/sec11.STL" />
      </geometry>
      <material
        name="">
        <color
          rgba="0.53725 0.34902 0.33725 1" />
      </material>
    </visual>
    <collision>
      <origin
        xyz="0 0 0"
        rpy="0 0 0" />
      <geometry>
        <mesh
          filename="package://fullurdf2/meshes/sec11.STL" />
      </geometry>
    </collision>
  </link>
  <joint
    name="joint11"
    type="fixed">
    <origin
      xyz="0.011 -0.005 0"
      rpy="-1.571 0 0" />
    <parent
      link="base_link" />
    <child
      link="sec11" />
    <axis
      xyz="1 0 1" />
	<dynamics damping="0.00001" friction="0.1"/>
    <limit
      lower="-1.571"
      upper="1.571"
      effort="100"
      velocity="500" />
  </joint>
  <link
    name="sec12">
    <inertial>
      <origin
        xyz="0.0025 0 1.73472347597681E-18"
        rpy="0 0 0" />
      <mass
        value="0.0139800873084746" />
      <inertia
        ixx="6.99004365423729E-07"
        ixy="2.45396915057399E-24"
        ixz="9.81587660229592E-24"
        iyy="3.7862736460452E-07"
        iyz="1.22698457528699E-23"
        izz="3.7862736460452E-07" />
    </inertial>
    <visual>
      <origin
        xyz="0 0 0"
        rpy="0 0 0" />
      <geometry>
        <mesh
          filename="package://fullurdf2/meshes/sec12.STL" />
      </geometry>
      <material
        name="">
        <color
          rgba="0.537254901960784 0.349019607843137 0.337254901960784 1" />
      </material>
    </visual>
    <collision>
      <origin
        xyz="0 0 0"
        rpy="0 0 0" />
      <geometry>
        <mesh
          filename="package://fullurdf2/meshes/sec12.STL" />
      </geometry>
    </collision>
  </link>
  <joint
    name="joint12"
    type="revolute">
    <origin
      xyz="0.01 0 0"
      rpy="0 0 0" />
    <parent
      link="sec11" />
    <child
      link="sec12" />
    <axis
      xyz="0 0 1" />
	<dynamics damping="0.00001" friction="0.1"/>
    <limit
      lower="-1.571"
      upper="1.571"
      effort="100"
      velocity="500" />
  </joint>
  <link
    name="sec13">
    <inertial>
      <origin
        xyz="0.0025 0 1.73472347597681E-18"
        rpy="0 0 0" />
      <mass
        value="0.0139800873084746" />
      <inertia
        ixx="6.99004365423729E-07"
        ixy="-2.45396915057399E-24"
        ixz="-9.81587660229591E-24"
        iyy="3.7862736460452E-07"
        iyz="1.22698457528699E-23"
        izz="3.7862736460452E-07" />
    </inertial>
    <visual>
      <origin
        xyz="0 0 0"
        rpy="0 0 0" />
      <geometry>
        <mesh
          filename="package://fullurdf2/meshes/sec13.STL" />
      </geometry>
      <material
        name="">
        <color
          rgba="0.537254901960784 0.349019607843137 0.337254901960784 1" />
      </material>
    </visual>
    <collision>
      <origin
        xyz="0 0 0"
        rpy="0 0 0" />
      <geometry>
        <mesh
          filename="package://fullurdf2/meshes/sec13.STL" />
      </geometry>
    </collision>
  </link>
  <joint
    name="joint13"
    type="revolute">
    <origin
      xyz="0.01 0 0"
      rpy="0 0 0" />
    <parent
      link="sec12" />
    <child
      link="sec13" />
    <axis
      xyz="0 0 1" />
	<dynamics damping="0.00001" friction="0.1"/>
    <limit
      lower="-1.571"
      upper="1.571"
      effort="100"
      velocity="500" />
  </joint>
  <link
    name="sec14">
    <inertial>
      <origin
        xyz="0.0025 0 1.73472347597681E-18"
        rpy="0 0 0" />
      <mass
        value="0.0139800873084746" />
      <inertia
        ixx="6.99004365423729E-07"
        ixy="2.45396915057399E-24"
        ixz="9.81587660229591E-24"
        iyy="3.7862736460452E-07"
        iyz="1.22698457528699E-23"
        izz="3.7862736460452E-07" />
    </inertial>
    <visual>
      <origin
        xyz="0 0 0"
        rpy="0 0 0" />
      <geometry>
        <mesh
          filename="package://fullurdf2/meshes/sec14.STL" />
      </geometry>
      <material
        name="">
        <color
          rgba="0.537254901960784 0.349019607843137 0.337254901960784 1" />
      </material>
    </visual>
    <collision>
      <origin
        xyz="0 0 0"
        rpy="0 0 0" />
      <geometry>
        <mesh
          filename="package://fullurdf2/meshes/sec14.STL" />
      </geometry>
    </collision>
  </link>
  <joint
    name="joint14"
    type="revolute">
    <origin
      xyz="0.01 0 0"
      rpy="0 0 0" />
    <parent
      link="sec13" />
    <child
      link="sec14" />
    <axis
      xyz="0 0 1" />
	<dynamics damping="0.00001" friction="0.1"/>
    <limit
      lower="-1.571"
      upper="1.571"
      effort="100"
      velocity="500" />
  </joint>
  <link
    name="sec15">
    <inertial>
      <origin
        xyz="0.0025 0 1.73472347597681E-18"
        rpy="0 0 0" />
      <mass
        value="0.0139800873084746" />
      <inertia
        ixx="6.99004365423729E-07"
        ixy="-2.45396915057399E-24"
        ixz="-9.81587660229591E-24"
        iyy="3.7862736460452E-07"
        iyz="1.22698457528699E-23"
        izz="3.7862736460452E-07" />
    </inertial>
    <visual>
      <origin
        xyz="0 0 0"
        rpy="0 0 0" />
      <geometry>
        <mesh
          filename="package://fullurdf2/meshes/sec15.STL" />
      </geometry>
      <material
        name="">
        <color
          rgba="0.537254901960784 0.349019607843137 0.337254901960784 1" />
      </material>
    </visual>
    <collision>
      <origin
        xyz="0 0 0"
        rpy="0 0 0" />
      <geometry>
        <mesh
          filename="package://fullurdf2/meshes/sec15.STL" />
      </geometry>
    </collision>
  </link>
  <joint
    name="joint15"
    type="revolute">
    <origin
      xyz="0.01 0 0"
      rpy="0 0 0" />
    <parent
      link="sec14" />
    <child
      link="sec15" />
    <axis
      xyz="0 0 1" />
	<dynamics damping="0.00001" friction="0.1"/>
    <limit
      lower="-1.571"
      upper="1.571"
      effort="100"
      velocity="500" />
  </joint>
  <link
    name="sec16">
    <inertial>
      <origin
        xyz="0.0025 0 1.73472347597681E-18"
        rpy="0 0 0" />
      <mass
        value="0.0139800873084746" />
      <inertia
        ixx="6.99004365423729E-07"
        ixy="2.45396915057399E-24"
        ixz="9.81587660229591E-24"
        iyy="3.7862736460452E-07"
        iyz="1.22698457528699E-23"
        izz="3.7862736460452E-07" />
    </inertial>
    <visual>
      <origin
        xyz="0 0 0"
        rpy="0 0 0" />
      <geometry>
        <mesh
          filename="package://fullurdf2/meshes/sec16.STL" />
      </geometry>
      <material
        name="">
        <color
          rgba="0.537254901960784 0.349019607843137 0.337254901960784 1" />
      </material>
    </visual>
    <collision>
      <origin
        xyz="0 0 0"
        rpy="0 0 0" />
      <geometry>
        <mesh
          filename="package://fullurdf2/meshes/sec16.STL" />
      </geometry>
    </collision>
  </link>
  <joint
    name="joint16"
    type="revolute">
    <origin
      xyz="0.01 0 0"
      rpy="0 0 0" />
    <parent
      link="sec15" />
    <child
      link="sec16" />
    <axis
      xyz="0 0 1" />
	<dynamics damping="0.00001" friction="0.1"/>
    <limit
      lower="-1.571"
      upper="1.571"
      effort="100"
      velocity="500" />
  </joint>
  <link
    name="sec17">
    <inertial>
      <origin
        xyz="0.0025 0 1.73472347597681E-18"
        rpy="0 0 0" />
      <mass
        value="0.0139800873084746" />
      <inertia
        ixx="6.9900436542373E-07"
        ixy="7.98179605279416E-40"
        ixz="2.55417473689413E-39"
        iyy="3.7862736460452E-07"
        iyz="2.37728261461855E-23"
        izz="3.7862736460452E-07" />
    </inertial>
    <visual>
      <origin
        xyz="0 0 0"
        rpy="0 0 0" />
      <geometry>
        <mesh
          filename="package://fullurdf2/meshes/sec17.STL" />
      </geometry>
      <material
        name="">
        <color
          rgba="0.537254901960784 0.349019607843137 0.337254901960784 1" />
      </material>
    </visual>
    <collision>
      <origin
        xyz="0 0 0"
        rpy="0 0 0" />
      <geometry>
        <mesh
          filename="package://fullurdf2/meshes/sec17.STL" />
      </geometry>
    </collision>
  </link>
  <joint
    name="joint17"
    type="revolute">
    <origin
      xyz="0.00999999999999999 0 0"
      rpy="0 0 0" />
    <parent
      link="sec16" />
    <child
      link="sec17" />
    <axis
      xyz="0 0 1" />
	<dynamics damping="0.00001" friction="0.1"/>
    <limit
      lower="-1.571"
      upper="1.571"
      effort="100"
      velocity="500" />
  </joint>
  <link
    name="sec18">
    <inertial>
      <origin
        xyz="0.0025 0 1.73472347597681E-18"
        rpy="0 0 0" />
      <mass
        value="0.0139800873084746" />
      <inertia
        ixx="6.9900436542373E-07"
        ixy="7.98179605279416E-40"
        ixz="3.19271842111766E-39"
        iyy="3.7862736460452E-07"
        iyz="2.37728261461855E-23"
        izz="3.7862736460452E-07" />
    </inertial>
    <visual>
      <origin
        xyz="0 0 0"
        rpy="0 0 0" />
      <geometry>
        <mesh
          filename="package://fullurdf2/meshes/sec18.STL" />
      </geometry>
      <material
        name="">
        <color
          rgba="0.537254901960784 0.349019607843137 0.337254901960784 1" />
      </material>
    </visual>
    <collision>
      <origin
        xyz="0 0 0"
        rpy="0 0 0" />
      <geometry>
        <mesh
          filename="package://fullurdf2/meshes/sec18.STL" />
      </geometry>
    </collision>
  </link>
  <joint
    name="joint18"
    type="revolute">
    <origin
      xyz="0.01 0 0"
      rpy="0 0 0" />
    <parent
      link="sec17" />
    <child
      link="sec18" />
    <axis
      xyz="0 0 1" />
	<dynamics damping="0.00001" friction="0.1"/>
    <limit
      lower="-1.571"
      upper="1.571"
      effort="100"
      velocity="500" />
  </joint>
  <link
    name="sec19">
    <inertial>
      <origin
        xyz="0.0025 0 1.73472347597681E-18"
        rpy="0 0 0" />
      <mass
        value="0.0139800873084746" />
      <inertia
        ixx="6.9900436542373E-07"
        ixy="7.98179605279416E-40"
        ixz="3.19271842111766E-39"
        iyy="3.7862736460452E-07"
        iyz="2.37728261461855E-23"
        izz="3.7862736460452E-07" />
    </inertial>
    <visual>
      <origin
        xyz="0 0 0"
        rpy="0 0 0" />
      <geometry>
        <mesh
          filename="package://fullurdf2/meshes/sec19.STL" />
      </geometry>
      <material
        name="">
        <color
          rgba="0.537254901960784 0.349019607843137 0.337254901960784 1" />
      </material>
    </visual>
    <collision>
      <origin
        xyz="0 0 0"
        rpy="0 0 0" />
      <geometry>
        <mesh
          filename="package://fullurdf2/meshes/sec19.STL" />
      </geometry>
    </collision>
  </link>
  <joint
    name="joint19"
    type="revolute">
    <origin
      xyz="0.01 0 0"
      rpy="0 0 0" />
    <parent
      link="sec18" />
    <child
      link="sec19" />
    <axis
      xyz="0 0 1" />
	<dynamics damping="0.00001" friction="0.1"/>
    <limit
      lower="-1.571"
      upper="1.571"
      effort="100"
      velocity="500" />
  </joint>
  <link
    name="sec20">
    <inertial>
      <origin
        xyz="0.0098619 -6.9389E-18 -1.7347E-18"
        rpy="0 0 0" />
      <mass
        value="0.057326" />
      <inertia
        ixx="2.9166E-06"
        ixy="1.131E-22"
        ixz="5.9669E-23"
        iyy="2.2417E-06"
        iyz="2.2527E-22"
        izz="2.2417E-06" />
    </inertial>
    <visual>
      <origin
        xyz="0 0 0"
        rpy="0 0 0" />
      <geometry>
        <mesh
          filename="package://fullurdf2/meshes/sec20.STL" />
      </geometry>
      <material
        name="">
        <color
          rgba="0.53725 0.34902 0.33725 1" />
      </material>
    </visual>
    <collision>
      <origin
        xyz="0 0 0"
        rpy="0 0 0" />
      <geometry>
        <mesh
          filename="package://fullurdf2/meshes/sec20.STL" />
      </geometry>
    </collision>
  </link>
  <joint
    name="joint20"
    type="revolute">
    <origin
      xyz="0.01 0 0"
      rpy="0 0 0" />
    <parent
      link="sec19" />
    <child
      link="sec20" />
    <axis
      xyz="0 0 1" />
	<dynamics damping="0.00001" friction="0.1"/>
    <limit
      lower="-1.571"
      upper="1.571"
      effort="100"
      velocity="500" />
  </joint>
  <link
    name="sec21">
    <inertial>
      <origin
        xyz="2.2768E-18 -0.005 0"
        rpy="0 0 0" />
      <mass
        value="0.0002" />
      <inertia
        ixx="3.3333E-09"
        ixy="1.7233E-26"
        ixz="3.031E-26"
        iyy="1.7333E-09"
        iyz="-8.3207E-26"
        izz="1.7333E-09" />
    </inertial>
    <visual>
      <origin
        xyz="0 0 0"
        rpy="0 0 0" />
      <geometry>
        <mesh
          filename="package://fullurdf2/meshes/sec21.STL" />
      </geometry>
      <material
        name="">
        <color
          rgba="0.79216 0.81961 0.93333 1" />
      </material>
    </visual>
    <collision>
      <origin
        xyz="0 0 0"
        rpy="0 0 0" />
      <geometry>
        <mesh
          filename="package://fullurdf2/meshes/sec21.STL" />
      </geometry>
    </collision>
  </link>
  <joint
    name="joint21"
    type="fixed">
    <origin
      xyz="-0.011 -0.005 0"
      rpy="1.571 0 0" />
    <parent
      link="base_link" />
    <child
      link="sec21" />
    <axis
      xyz="1 0 1" />
	<dynamics damping="0.00001" friction="0.1"/>
    <limit
      lower="-1.571"
      upper="1.571"
      effort="100"
      velocity="500" />
  </joint>
  <link
    name="sec22">
    <inertial>
      <origin
        xyz="-0.0025 3.46944695195361E-18 -1.73472347597681E-18"
        rpy="0 0 0" />
      <mass
        value="0.0139800873084746" />
      <inertia
        ixx="6.99004365423729E-07"
        ixy="4.04587000999357E-39"
        ixz="-9.81587660229593E-24"
        iyy="3.7862736460452E-07"
        iyz="-7.36190745172194E-24"
        izz="3.7862736460452E-07" />
    </inertial>
    <visual>
      <origin
        xyz="0 0 0"
        rpy="0 0 0" />
      <geometry>
        <mesh
          filename="package://fullurdf2/meshes/sec22.STL" />
      </geometry>
      <material
        name="">
        <color
          rgba="0.537254901960784 0.349019607843137 0.337254901960784 1" />
      </material>
    </visual>
    <collision>
      <origin
        xyz="0 0 0"
        rpy="0 0 0" />
      <geometry>
        <mesh
          filename="package://fullurdf2/meshes/sec22.STL" />
      </geometry>
    </collision>
  </link>
  <joint
    name="joint22"
    type="revolute">
    <origin
      xyz="-0.01 0 0"
      rpy="0 0 0" />
    <parent
      link="sec21" />
    <child
      link="sec22" />
    <axis
      xyz="0 0 1" />
	<dynamics damping="0.00001" friction="0.1"/>
    <limit
      lower="-1.571"
      upper="1.571"
      effort="100"
      velocity="500" />
  </joint>
  <link
    name="sec23">
    <inertial>
      <origin
        xyz="-0.0025 1.73472347597681E-18 -1.73472347597681E-18"
        rpy="0 0 0" />
      <mass
        value="0.0139800873084746" />
      <inertia
        ixx="6.99004365423729E-07"
        ixy="-2.45396915057397E-24"
        ixz="-9.81587660229592E-24"
        iyy="3.7862736460452E-07"
        iyz="-7.36190745172193E-24"
        izz="3.7862736460452E-07" />
    </inertial>
    <visual>
      <origin
        xyz="0 0 0"
        rpy="0 0 0" />
      <geometry>
        <mesh
          filename="package://fullurdf2/meshes/sec23.STL" />
      </geometry>
      <material
        name="">
        <color
          rgba="0.537254901960784 0.349019607843137 0.337254901960784 1" />
      </material>
    </visual>
    <collision>
      <origin
        xyz="0 0 0"
        rpy="0 0 0" />
      <geometry>
        <mesh
          filename="package://fullurdf2/meshes/sec23.STL" />
      </geometry>
    </collision>
  </link>
  <joint
    name="joint23"
    type="revolute">
    <origin
      xyz="-0.01 0 0"
      rpy="0 0 0" />
    <parent
      link="sec22" />
    <child
      link="sec23" />
    <axis
      xyz="0 0 1" />
	<dynamics damping="0.00001" friction="0.1"/>
    <limit
      lower="-1.571"
      upper="1.571"
      effort="100"
      velocity="500" />
  </joint>
  <link
    name="sec24">
    <inertial>
      <origin
        xyz="-0.0025 0 -1.73472347597681E-18"
        rpy="0 0 0" />
      <mass
        value="0.0139800873084746" />
      <inertia
        ixx="6.99004365423729E-07"
        ixy="-2.45396915057397E-24"
        ixz="-9.81587660229592E-24"
        iyy="3.7862736460452E-07"
        iyz="-7.36190745172193E-24"
        izz="3.7862736460452E-07" />
    </inertial>
    <visual>
      <origin
        xyz="0 0 0"
        rpy="0 0 0" />
      <geometry>
        <mesh
          filename="package://fullurdf2/meshes/sec24.STL" />
      </geometry>
      <material
        name="">
        <color
          rgba="0.537254901960784 0.349019607843137 0.337254901960784 1" />
      </material>
    </visual>
    <collision>
      <origin
        xyz="0 0 0"
        rpy="0 0 0" />
      <geometry>
        <mesh
          filename="package://fullurdf2/meshes/sec24.STL" />
      </geometry>
    </collision>
  </link>
  <joint
    name="joint24"
    type="revolute">
    <origin
      xyz="-0.01 0 0"
      rpy="0 0 0" />
    <parent
      link="sec23" />
    <child
      link="sec24" />
    <axis
      xyz="0 0 1" />
	<dynamics damping="0.00001" friction="0.1"/>
    <limit
      lower="-1.571"
      upper="1.571"
      effort="100"
      velocity="500" />
  </joint>
  <link
    name="sec25">
    <inertial>
      <origin
        xyz="-0.0025 0 -1.73472347597681E-18"
        rpy="0 0 0" />
      <mass
        value="0.0139800873084746" />
      <inertia
        ixx="6.99004365423729E-07"
        ixy="-2.45396915057397E-24"
        ixz="-9.81587660229592E-24"
        iyy="3.7862736460452E-07"
        iyz="-7.36190745172193E-24"
        izz="3.7862736460452E-07" />
    </inertial>
    <visual>
      <origin
        xyz="0 0 0"
        rpy="0 0 0" />
      <geometry>
        <mesh
          filename="package://fullurdf2/meshes/sec25.STL" />
      </geometry>
      <material
        name="">
        <color
          rgba="0.537254901960784 0.349019607843137 0.337254901960784 1" />
      </material>
    </visual>
    <collision>
      <origin
        xyz="0 0 0"
        rpy="0 0 0" />
      <geometry>
        <mesh
          filename="package://fullurdf2/meshes/sec25.STL" />
      </geometry>
    </collision>
  </link>
  <joint
    name="joint25"
    type="revolute">
    <origin
      xyz="-0.01 0 0"
      rpy="0 0 0" />
    <parent
      link="sec24" />
    <child
      link="sec25" />
    <axis
      xyz="0 0 1" />
	<dynamics damping="0.00001" friction="0.1"/>
    <limit
      lower="-1.571"
      upper="1.571"
      effort="100"
      velocity="500" />
  </joint>
  <link
    name="sec26">
    <inertial>
      <origin
        xyz="-0.0025 0 -1.73472347597681E-18"
        rpy="0 0 0" />
      <mass
        value="0.0139800873084746" />
      <inertia
        ixx="6.9900436542373E-07"
        ixy="0"
        ixz="7.98179605279416E-40"
        iyy="3.7862736460452E-07"
        iyz="4.14107294159359E-24"
        izz="3.7862736460452E-07" />
    </inertial>
    <visual>
      <origin
        xyz="0 0 0"
        rpy="0 0 0" />
      <geometry>
        <mesh
          filename="package://fullurdf2/meshes/sec26.STL" />
      </geometry>
      <material
        name="">
        <color
          rgba="0.537254901960784 0.349019607843137 0.337254901960784 1" />
      </material>
    </visual>
    <collision>
      <origin
        xyz="0 0 0"
        rpy="0 0 0" />
      <geometry>
        <mesh
          filename="package://fullurdf2/meshes/sec26.STL" />
      </geometry>
    </collision>
  </link>
  <joint
    name="joint26"
    type="revolute">
    <origin
      xyz="-0.01 0 0"
      rpy="0 0 0" />
    <parent
      link="sec25" />
    <child
      link="sec26" />
    <axis
      xyz="0 0 1" />
	<dynamics damping="0.00001" friction="0.1"/>
    <limit
      lower="-1.571"
      upper="1.571"
      effort="100"
      velocity="500" />
  </joint>
  <link
    name="sec27">
    <inertial>
      <origin
        xyz="-0.0025 0 -1.73472347597681E-18"
        rpy="0 0 0" />
      <mass
        value="0.0139800873084746" />
      <inertia
        ixx="6.9900436542373E-07"
        ixy="0"
        ixz="7.98179605279416E-40"
        iyy="3.7862736460452E-07"
        iyz="4.14107294159359E-24"
        izz="3.7862736460452E-07" />
    </inertial>
    <visual>
      <origin
        xyz="0 0 0"
        rpy="0 0 0" />
      <geometry>
        <mesh
          filename="package://fullurdf2/meshes/sec27.STL" />
      </geometry>
      <material
        name="">
        <color
          rgba="0.537254901960784 0.349019607843137 0.337254901960784 1" />
      </material>
    </visual>
    <collision>
      <origin
        xyz="0 0 0"
        rpy="0 0 0" />
      <geometry>
        <mesh
          filename="package://fullurdf2/meshes/sec27.STL" />
      </geometry>
    </collision>
  </link>
  <joint
    name="joint27"
    type="revolute">
    <origin
      xyz="-0.01 0 0"
      rpy="0 0 0" />
    <parent
      link="sec26" />
    <child
      link="sec27" />
    <axis
      xyz="0 0 1" />
	<dynamics damping="0.00001" friction="0.1"/>
    <limit
      lower="-1.571"
      upper="1.571"
      effort="100"
      velocity="500" />
  </joint>
  <link
    name="sec28">
    <inertial>
      <origin
        xyz="-0.0025 0 -1.73472347597681E-18"
        rpy="0 0 0" />
      <mass
        value="0.0139800873084746" />
      <inertia
        ixx="6.9900436542373E-07"
        ixy="0"
        ixz="7.98179605279416E-40"
        iyy="3.7862736460452E-07"
        iyz="4.14107294159359E-24"
        izz="3.7862736460452E-07" />
    </inertial>
    <visual>
      <origin
        xyz="0 0 0"
        rpy="0 0 0" />
      <geometry>
        <mesh
          filename="package://fullurdf2/meshes/sec28.STL" />
      </geometry>
      <material
        name="">
        <color
          rgba="0.537254901960784 0.349019607843137 0.337254901960784 1" />
      </material>
    </visual>
    <collision>
      <origin
        xyz="0 0 0"
        rpy="0 0 0" />
      <geometry>
        <mesh
          filename="package://fullurdf2/meshes/sec28.STL" />
      </geometry>
    </collision>
  </link>
  <joint
    name="joint28"
    type="revolute">
    <origin
      xyz="-0.01 0 0"
      rpy="0 0 0" />
    <parent
      link="sec27" />
    <child
      link="sec28" />
    <axis
      xyz="0 0 1" />
	<dynamics damping="0.00001" friction="0.1"/>
    <limit
      lower="-1.571"
      upper="1.571"
      effort="100"
      velocity="500" />
  </joint>
  <link
    name="sec29">
    <inertial>
      <origin
        xyz="-0.0025 0 -1.73472347597681E-18"
        rpy="0 0 0" />
      <mass
        value="0.0139800873084746" />
      <inertia
        ixx="6.9900436542373E-07"
        ixy="0"
        ixz="7.98179605279416E-40"
        iyy="3.7862736460452E-07"
        iyz="4.14107294159359E-24"
        izz="3.7862736460452E-07" />
    </inertial>
    <visual>
      <origin
        xyz="0 0 0"
        rpy="0 0 0" />
      <geometry>
        <mesh
          filename="package://fullurdf2/meshes/sec29.STL" />
      </geometry>
      <material
        name="">
        <color
          rgba="0.537254901960784 0.349019607843137 0.337254901960784 1" />
      </material>
    </visual>
    <collision>
      <origin
        xyz="0 0 0"
        rpy="0 0 0" />
      <geometry>
        <mesh
          filename="package://fullurdf2/meshes/sec29.STL" />
      </geometry>
    </collision>
  </link>
  <joint
    name="joint29"
    type="revolute">
    <origin
      xyz="-0.01 0 0"
      rpy="0 0 0" />
    <parent
      link="sec28" />
    <child
      link="sec29" />
    <axis
      xyz="0 0 1" />
	<dynamics damping="0.00001" friction="0.1"/>
    <limit
      lower="-1.571"
      upper="1.571"
      effort="100"
      velocity="500" />
  </joint>
  <link
    name="sec30">
    <inertial>
      <origin
        xyz="-0.0098619 1.7347E-18 1.5613E-17"
        rpy="0 0 0" />
      <mass
        value="0.057326" />
      <inertia
        ixx="2.9166E-06"
        ixy="-1.131E-22"
        ixz="1.542E-22"
        iyy="2.2417E-06"
        iyz="-6.3024E-23"
        izz="2.2417E-06" />
    </inertial>
    <visual>
      <origin
        xyz="0 0 0"
        rpy="0 0 0" />
      <geometry>
        <mesh
          filename="package://fullurdf2/meshes/sec30.STL" />
      </geometry>
      <material
        name="">
        <color
          rgba="0.53725 0.34902 0.33725 1" />
      </material>
    </visual>
    <collision>
      <origin
        xyz="0 0 0"
        rpy="0 0 0" />
      <geometry>
        <mesh
          filename="package://fullurdf2/meshes/sec30.STL" />
      </geometry>
    </collision>
  </link>
  <joint
    name="joint30"
    type="revolute">
    <origin
      xyz="-0.01 0 0"
      rpy="0 0 0" />
    <parent
      link="sec29" />
    <child
      link="sec30" />
    <axis
      xyz="0 0 1" />
	<dynamics damping="0.00001" friction="0.1"/>
    <limit
      lower="-1.571"
      upper="1.571"
      effort="100"
      velocity="500" />
  </joint>

  <gazebo>

  <plugin name="gazebo_ros_control" filename="libgazebo_ros_control.so">
  </plugin>

  </gazebo>

  <!--transmission definition -->
<!--<transmission name="tran01">
    <type>transmission_interface/SimpleTransmission</type>
    <joint name="joint01">
      <hardwareInterface>hardware_interface/EffortJointInterface</hardwareInterface>
    </joint>
    <actuator name="motor01">
      <hardwareInterface>hardware_interface/EffortJointInterface</hardwareInterface>
      <mechanicalReduction>1</mechanicalReduction>
    </actuator>
  </transmission>
  -->

  <transmission name="tran02">
    <type>transmission_interface/SimpleTransmission</type>
    <joint name="joint02">
      <hardwareInterface>hardware_interface/EffortJointInterface</hardwareInterface>
    </joint>
    <actuator name="motor02">
      <hardwareInterface>hardware_interface/EffortJointInterface</hardwareInterface>
      <mechanicalReduction>1</mechanicalReduction>
    </actuator>
  </transmission>
  
  <transmission name="tran03">
    <type>transmission_interface/SimpleTransmission</type>
    <joint name="joint03">
      <hardwareInterface>hardware_interface/EffortJointInterface</hardwareInterface>
    </joint>
    <actuator name="motor03">
      <hardwareInterface>hardware_interface/EffortJointInterface</hardwareInterface>
      <mechanicalReduction>1</mechanicalReduction>
    </actuator>
  </transmission>
  
  <transmission name="tran04">
    <type>transmission_interface/SimpleTransmission</type>
    <joint name="joint04">
      <hardwareInterface>hardware_interface/EffortJointInterface</hardwareInterface>
    </joint>
    <actuator name="motor04">
      <hardwareInterface>hardware_interface/EffortJointInterface</hardwareInterface>
      <mechanicalReduction>1</mechanicalReduction>
    </actuator>
  </transmission>
  
  <transmission name="tran05">
    <type>transmission_interface/SimpleTransmission</type>
    <joint name="joint05">
      <hardwareInterface>hardware_interface/EffortJointInterface</hardwareInterface>
    </joint>
    <actuator name="motor05">
      <hardwareInterface>hardware_interface/EffortJointInterface</hardwareInterface>
      <mechanicalReduction>1</mechanicalReduction>
    </actuator>
  </transmission>
  
  <transmission name="tran06">
    <type>transmission_interface/SimpleTransmission</type>
    <joint name="joint06">
      <hardwareInterface>hardware_interface/EffortJointInterface</hardwareInterface>
    </joint>
    <actuator name="motor06">
      <hardwareInterface>hardware_interface/EffortJointInterface</hardwareInterface>
      <mechanicalReduction>1</mechanicalReduction>
    </actuator>
  </transmission>
  
  <transmission name="tran07">
    <type>transmission_interface/SimpleTransmission</type>
    <joint name="joint07">
      <hardwareInterface>hardware_interface/EffortJointInterface</hardwareInterface>
    </joint>
    <actuator name="motor07">
      <hardwareInterface>hardware_interface/EffortJointInterface</hardwareInterface>
      <mechanicalReduction>1</mechanicalReduction>
    </actuator>
  </transmission>
  
  <transmission name="tran08">
    <type>transmission_interface/SimpleTransmission</type>
    <joint name="joint08">
      <hardwareInterface>hardware_interface/EffortJointInterface</hardwareInterface>
    </joint>
    <actuator name="motor08">
      <hardwareInterface>hardware_interface/EffortJointInterface</hardwareInterface>
      <mechanicalReduction>1</mechanicalReduction>
    </actuator>
  </transmission>

  <transmission name="tran09">
    <type>transmission_interface/SimpleTransmission</type>
    <joint name="joint09">
      <hardwareInterface>hardware_interface/EffortJointInterface</hardwareInterface>
    </joint>
    <actuator name="motor09">
      <hardwareInterface>hardware_interface/EffortJointInterface</hardwareInterface>
      <mechanicalReduction>1</mechanicalReduction>
    </actuator>
  </transmission>

  <transmission name="tran10">
    <type>transmission_interface/SimpleTransmission</type>
    <joint name="joint10">
      <hardwareInterface>hardware_interface/EffortJointInterface</hardwareInterface>
    </joint>
    <actuator name="motor10">
      <hardwareInterface>hardware_interface/EffortJointInterface</hardwareInterface>
      <mechanicalReduction>1</mechanicalReduction>
    </actuator>
  </transmission>

  <!--<transmission name="tran11">
    <type>transmission_interface/SimpleTransmission</type>
    <joint name="joint11">
      <hardwareInterface>hardware_interface/EffortJointInterface</hardwareInterface>
    </joint>
    <actuator name="motor11">
      <hardwareInterface>hardware_interface/EffortJointInterface</hardwareInterface>
      <mechanicalReduction>5</mechanicalReduction>
    </actuator>
  </transmission>
  -->

  <transmission name="tran12">
    <type>transmission_interface/SimpleTransmission</type>
    <joint name="joint12">
      <hardwareInterface>hardware_interface/EffortJointInterface</hardwareInterface>
    </joint>
    <actuator name="motor12">
      <hardwareInterface>hardware_interface/EffortJointInterface</hardwareInterface>
      <mechanicalReduction>5</mechanicalReduction>
    </actuator>
  </transmission>
  
  <transmission name="tran13">
    <type>transmission_interface/SimpleTransmission</type>
    <joint name="joint13">
      <hardwareInterface>hardware_interface/EffortJointInterface</hardwareInterface>
    </joint>
    <actuator name="motor13">
      <hardwareInterface>hardware_interface/EffortJointInterface</hardwareInterface>
      <mechanicalReduction>5</mechanicalReduction>
    </actuator>
  </transmission>
  
  <transmission name="tran14">
    <type>transmission_interface/SimpleTransmission</type>
    <joint name="joint14">
      <hardwareInterface>hardware_interface/EffortJointInterface</hardwareInterface>
    </joint>
    <actuator name="motor14">
      <hardwareInterface>hardware_interface/EffortJointInterface</hardwareInterface>
      <mechanicalReduction>5</mechanicalReduction>
    </actuator>
  </transmission>
  
  <transmission name="tran15">
    <type>transmission_interface/SimpleTransmission</type>
    <joint name="joint15">
      <hardwareInterface>hardware_interface/EffortJointInterface</hardwareInterface>
    </joint>
    <actuator name="motor15">
      <hardwareInterface>hardware_interface/EffortJointInterface</hardwareInterface>
      <mechanicalReduction>5</mechanicalReduction>
    </actuator>
  </transmission>
  
  <transmission name="tran16">
    <type>transmission_interface/SimpleTransmission</type>
    <joint name="joint16">
      <hardwareInterface>hardware_interface/EffortJointInterface</hardwareInterface>
    </joint>
    <actuator name="motor16">
      <hardwareInterface>hardware_interface/EffortJointInterface</hardwareInterface>
      <mechanicalReduction>5</mechanicalReduction>
    </actuator>
  </transmission>
  
  <transmission name="tran17">
    <type>transmission_interface/SimpleTransmission</type>
    <joint name="joint17">
      <hardwareInterface>hardware_interface/EffortJointInterface</hardwareInterface>
    </joint>
    <actuator name="motor17">
      <hardwareInterface>hardware_interface/EffortJointInterface</hardwareInterface>
      <mechanicalReduction>5</mechanicalReduction>
    </actuator>
  </transmission>
  
  <transmission name="tran18">
    <type>transmission_interface/SimpleTransmission</type>
    <joint name="joint18">
      <hardwareInterface>hardware_interface/EffortJointInterface</hardwareInterface>
    </joint>
    <actuator name="motor18">
      <hardwareInterface>hardware_interface/EffortJointInterface</hardwareInterface>
      <mechanicalReduction>5</mechanicalReduction>
    </actuator>
  </transmission>

  <transmission name="tran19">
    <type>transmission_interface/SimpleTransmission</type>
    <joint name="joint19">
      <hardwareInterface>hardware_interface/EffortJointInterface</hardwareInterface>
    </joint>
    <actuator name="motor19">
      <hardwareInterface>hardware_interface/EffortJointInterface</hardwareInterface>
      <mechanicalReduction>5</mechanicalReduction>
    </actuator>
  </transmission>

  <transmission name="tran20">
    <type>transmission_interface/SimpleTransmission</type>
    <joint name="joint20">
      <hardwareInterface>hardware_interface/EffortJointInterface</hardwareInterface>
    </joint>
    <actuator name="motor20">
      <hardwareInterface>hardware_interface/EffortJointInterface</hardwareInterface>
      <mechanicalReduction>5</mechanicalReduction>
    </actuator>
  </transmission>

<!--<transmission name="tran21">
    <type>transmission_interface/SimpleTransmission</type>
    <joint name="joint21">
      <hardwareInterface>hardware_interface/EffortJointInterface</hardwareInterface>
    </joint>
    <actuator name="motor21">
      <hardwareInterface>hardware_interface/EffortJointInterface</hardwareInterface>
      <mechanicalReduction>1</mechanicalReduction>
    </actuator>
  </transmission>-->
  
  <transmission name="tran22">
    <type>transmission_interface/SimpleTransmission</type>
    <joint name="joint22">
      <hardwareInterface>hardware_interface/EffortJointInterface</hardwareInterface>
    </joint>
    <actuator name="motor22">
      <hardwareInterface>hardware_interface/EffortJointInterface</hardwareInterface>
      <mechanicalReduction>1</mechanicalReduction>
    </actuator>
  </transmission>
  
  <transmission name="tran23">
    <type>transmission_interface/SimpleTransmission</type>
    <joint name="joint23">
      <hardwareInterface>hardware_interface/EffortJointInterface</hardwareInterface>
    </joint>
    <actuator name="motor23">
      <hardwareInterface>hardware_interface/EffortJointInterface</hardwareInterface>
      <mechanicalReduction>1</mechanicalReduction>
    </actuator>
  </transmission>
  
  <transmission name="tran24">
    <type>transmission_interface/SimpleTransmission</type>
    <joint name="joint24">
      <hardwareInterface>hardware_interface/EffortJointInterface</hardwareInterface>
    </joint>
    <actuator name="motor24">
      <hardwareInterface>hardware_interface/EffortJointInterface</hardwareInterface>
      <mechanicalReduction>1</mechanicalReduction>
    </actuator>
  </transmission>
  
  <transmission name="tran25">
    <type>transmission_interface/SimpleTransmission</type>
    <joint name="joint25">
      <hardwareInterface>hardware_interface/EffortJointInterface</hardwareInterface>
    </joint>
    <actuator name="motor25">
      <hardwareInterface>hardware_interface/EffortJointInterface</hardwareInterface>
      <mechanicalReduction>1</mechanicalReduction>
    </actuator>
  </transmission>
  
  <transmission name="tran26">
    <type>transmission_interface/SimpleTransmission</type>
    <joint name="joint26">
      <hardwareInterface>hardware_interface/EffortJointInterface</hardwareInterface>
    </joint>
    <actuator name="motor26">
      <hardwareInterface>hardware_interface/EffortJointInterface</hardwareInterface>
      <mechanicalReduction>1</mechanicalReduction>
    </actuator>
  </transmission>
  
  <transmission name="tran27">
    <type>transmission_interface/SimpleTransmission</type>
    <joint name="joint27">
      <hardwareInterface>hardware_interface/EffortJointInterface</hardwareInterface>
    </joint>
    <actuator name="motor27">
      <hardwareInterface>hardware_interface/EffortJointInterface</hardwareInterface>
      <mechanicalReduction>1</mechanicalReduction>
    </actuator>
  </transmission>
  
  <transmission name="tran28">
    <type>transmission_interface/SimpleTransmission</type>
    <joint name="joint28">
      <hardwareInterface>hardware_interface/EffortJointInterface</hardwareInterface>
    </joint>
    <actuator name="motor28">
      <hardwareInterface>hardware_interface/EffortJointInterface</hardwareInterface>
      <mechanicalReduction>1</mechanicalReduction>
    </actuator>
  </transmission>

  <transmission name="tran29">
    <type>transmission_interface/SimpleTransmission</type>
    <joint name="joint29">
      <hardwareInterface>hardware_interface/EffortJointInterface</hardwareInterface>
    </joint>
    <actuator name="motor29">
      <hardwareInterface>hardware_interface/EffortJointInterface</hardwareInterface>
      <mechanicalReduction>1</mechanicalReduction>
    </actuator>
  </transmission>

  <transmission name="tran30">
    <type>transmission_interface/SimpleTransmission</type>
    <joint name="joint30">
      <hardwareInterface>hardware_interface/EffortJointInterface</hardwareInterface>
    </joint>
    <actuator name="motor30">
      <hardwareInterface>hardware_interface/EffortJointInterface</hardwareInterface>
      <mechanicalReduction>1</mechanicalReduction>
    </actuator>
  </transmission>

<!--<transmission name="tran31">
    <type>transmission_interface/SimpleTransmission</type>
    <joint name="joint31">
      <hardwareInterface>hardware_interface/EffortJointInterface</hardwareInterface>
    </joint>
    <actuator name="motor31">
      <hardwareInterface>hardware_interface/EffortJointInterface</hardwareInterface>
      <mechanicalReduction>1</mechanicalReduction>
    </actuator>
  </transmission>-->
  
  <transmission name="tran32">
    <type>transmission_interface/SimpleTransmission</type>
    <joint name="joint32">
      <hardwareInterface>hardware_interface/EffortJointInterface</hardwareInterface>
    </joint>
    <actuator name="motor32">
      <hardwareInterface>hardware_interface/EffortJointInterface</hardwareInterface>
      <mechanicalReduction>1</mechanicalReduction>
    </actuator>
  </transmission>
  
  <transmission name="tran33">
    <type>transmission_interface/SimpleTransmission</type>
    <joint name="joint33">
      <hardwareInterface>hardware_interface/EffortJointInterface</hardwareInterface>
    </joint>
    <actuator name="motor33">
      <hardwareInterface>hardware_interface/EffortJointInterface</hardwareInterface>
      <mechanicalReduction>1</mechanicalReduction>
    </actuator>
  </transmission>
  
  <transmission name="tran34">
    <type>transmission_interface/SimpleTransmission</type>
    <joint name="joint34">
      <hardwareInterface>hardware_interface/EffortJointInterface</hardwareInterface>
    </joint>
    <actuator name="motor34">
      <hardwareInterface>hardware_interface/EffortJointInterface</hardwareInterface>
      <mechanicalReduction>1</mechanicalReduction>
    </actuator>
  </transmission>
  
  <transmission name="tran35">
    <type>transmission_interface/SimpleTransmission</type>
    <joint name="joint35">
      <hardwareInterface>hardware_interface/EffortJointInterface</hardwareInterface>
    </joint>
    <actuator name="motor35">
      <hardwareInterface>hardware_interface/EffortJointInterface</hardwareInterface>
      <mechanicalReduction>1</mechanicalReduction>
    </actuator>
  </transmission>
  
  <transmission name="tran36">
    <type>transmission_interface/SimpleTransmission</type>
    <joint name="joint36">
      <hardwareInterface>hardware_interface/EffortJointInterface</hardwareInterface>
    </joint>
    <actuator name="motor36">
      <hardwareInterface>hardware_interface/EffortJointInterface</hardwareInterface>
      <mechanicalReduction>1</mechanicalReduction>
    </actuator>
  </transmission>
  
  <transmission name="tran37">
    <type>transmission_interface/SimpleTransmission</type>
    <joint name="joint37">
      <hardwareInterface>hardware_interface/EffortJointInterface</hardwareInterface>
    </joint>
    <actuator name="motor37">
      <hardwareInterface>hardware_interface/EffortJointInterface</hardwareInterface>
      <mechanicalReduction>1</mechanicalReduction>
    </actuator>
  </transmission>
  
  <transmission name="tran38">
    <type>transmission_interface/SimpleTransmission</type>
    <joint name="joint38">
      <hardwareInterface>hardware_interface/EffortJointInterface</hardwareInterface>
    </joint>
    <actuator name="motor38">
      <hardwareInterface>hardware_interface/EffortJointInterface</hardwareInterface>
      <mechanicalReduction>1</mechanicalReduction>
    </actuator>
  </transmission>

  <transmission name="tran39">
    <type>transmission_interface/SimpleTransmission</type>
    <joint name="joint39">
      <hardwareInterface>hardware_interface/EffortJointInterface</hardwareInterface>
    </joint>
    <actuator name="motor39">
      <hardwareInterface>hardware_interface/EffortJointInterface</hardwareInterface>
      <mechanicalReduction>1</mechanicalReduction>
    </actuator>
  </transmission>

  <transmission name="tran40">
    <type>transmission_interface/SimpleTransmission</type>
    <joint name="joint40">
      <hardwareInterface>hardware_interface/EffortJointInterface</hardwareInterface>
    </joint>
    <actuator name="motor40">
      <hardwareInterface>hardware_interface/EffortJointInterface</hardwareInterface>
      <mechanicalReduction>1</mechanicalReduction>
    </actuator>
  </transmission>

<!--<transmission name="tran41">
    <type>transmission_interface/SimpleTransmission</type>
    <joint name="joint41">
      <hardwareInterface>hardware_interface/EffortJointInterface</hardwareInterface>
    </joint>
    <actuator name="motor41">
      <hardwareInterface>hardware_interface/EffortJointInterface</hardwareInterface>
      <mechanicalReduction>1</mechanicalReduction>
    </actuator>
  </transmission>-->
  
  <transmission name="tran42">
    <type>transmission_interface/SimpleTransmission</type>
    <joint name="joint42">
      <hardwareInterface>hardware_interface/EffortJointInterface</hardwareInterface>
    </joint>
    <actuator name="motor42">
      <hardwareInterface>hardware_interface/EffortJointInterface</hardwareInterface>
      <mechanicalReduction>1</mechanicalReduction>
    </actuator>
  </transmission>
  
  <transmission name="tran43">
    <type>transmission_interface/SimpleTransmission</type>
    <joint name="joint43">
      <hardwareInterface>hardware_interface/EffortJointInterface</hardwareInterface>
    </joint>
    <actuator name="motor43">
      <hardwareInterface>hardware_interface/EffortJointInterface</hardwareInterface>
      <mechanicalReduction>1</mechanicalReduction>
    </actuator>
  </transmission>
  
  <transmission name="tran44">
    <type>transmission_interface/SimpleTransmission</type>
    <joint name="joint44">
      <hardwareInterface>hardware_interface/EffortJointInterface</hardwareInterface>
    </joint>
    <actuator name="motor44">
      <hardwareInterface>hardware_interface/EffortJointInterface</hardwareInterface>
      <mechanicalReduction>1</mechanicalReduction>
    </actuator>
  </transmission>
  
  <transmission name="tran45">
    <type>transmission_interface/SimpleTransmission</type>
    <joint name="joint45">
      <hardwareInterface>hardware_interface/EffortJointInterface</hardwareInterface>
    </joint>
    <actuator name="motor45">
      <hardwareInterface>hardware_interface/EffortJointInterface</hardwareInterface>
      <mechanicalReduction>1</mechanicalReduction>
    </actuator>
  </transmission>
  
  <transmission name="tran46">
    <type>transmission_interface/SimpleTransmission</type>
    <joint name="joint46">
      <hardwareInterface>hardware_interface/EffortJointInterface</hardwareInterface>
    </joint>
    <actuator name="motor46">
      <hardwareInterface>hardware_interface/EffortJointInterface</hardwareInterface>
      <mechanicalReduction>1</mechanicalReduction>
    </actuator>
  </transmission>
  
  <transmission name="tran47">
    <type>transmission_interface/SimpleTransmission</type>
    <joint name="joint47">
      <hardwareInterface>hardware_interface/EffortJointInterface</hardwareInterface>
    </joint>
    <actuator name="motor47">
      <hardwareInterface>hardware_interface/EffortJointInterface</hardwareInterface>
      <mechanicalReduction>1</mechanicalReduction>
    </actuator>
  </transmission>
  
  <transmission name="tran48">
    <type>transmission_interface/SimpleTransmission</type>
    <joint name="joint48">
      <hardwareInterface>hardware_interface/EffortJointInterface</hardwareInterface>
    </joint>
    <actuator name="motor48">
      <hardwareInterface>hardware_interface/EffortJointInterface</hardwareInterface>
      <mechanicalReduction>1</mechanicalReduction>
    </actuator>
  </transmission>

  <transmission name="tran49">
    <type>transmission_interface/SimpleTransmission</type>
    <joint name="joint49">
      <hardwareInterface>hardware_interface/EffortJointInterface</hardwareInterface>
    </joint>
    <actuator name="motor49">
      <hardwareInterface>hardware_interface/EffortJointInterface</hardwareInterface>
      <mechanicalReduction>1</mechanicalReduction>
    </actuator>
  </transmission>

  <transmission name="tran50">
    <type>transmission_interface/SimpleTransmission</type>
    <joint name="joint50">
      <hardwareInterface>hardware_interface/EffortJointInterface</hardwareInterface>
    </joint>
    <actuator name="motor50">
      <hardwareInterface>hardware_interface/EffortJointInterface</hardwareInterface>
      <mechanicalReduction>1</mechanicalReduction>
    </actuator>
  </transmission>

  <gazebo>
  <plugin name="JointStiffnessPlugin" filename="libsoftactuator.so">
  <joint>
    <name>joint02</name>
    <stiffness>0.4</stiffness>
    <damping>1</damping>
    <friction>0.03</friction>
  </joint>
  <joint>
    <name>joint03</name>
    <stiffness>0.4</stiffness>
    <damping>1</damping>
    <friction>0.03</friction>
  </joint>
  <joint>
    <name>joint04</name>
    <stiffness>0.4</stiffness>
    <damping>1</damping>
    <friction>0.03</friction>
  </joint>
  <joint>
    <name>joint05</name>
    <stiffness>0.4</stiffness>
    <damping>1</damping>
    <friction>0.03</friction>
  </joint>
  <joint>
    <name>joint06</name>
    <stiffness>0.4</stiffness>
    <damping>1</damping>
    <friction>0.03</friction>
  </joint>
  <joint>
    <name>joint07</name>
    <stiffness>0.4</stiffness>
    <damping>1</damping>
    <friction>0.03</friction>
  </joint>

  <joint>
    <name>joint08</name>
    <stiffness>0.4</stiffness>
    <damping>1</damping>
    <friction>0.03</friction>
  </joint>

  <joint>
    <name>joint09</name>
    <stiffness>0.4</stiffness>
    <damping>1</damping>
    <friction>0.03</friction>
  </joint>

  <joint>
    <name>joint10</name>
    <stiffness>0.4</stiffness>
    <damping>1</damping>
    <friction>0.03</friction>
  </joint>

  <joint>
    <name>joint12</name>
    <stiffness>0.4</stiffness>
    <damping>1</damping>
    <friction>0.03</friction>
  </joint>

  <joint>
    <name>joint13</name>
    <stiffness>0.4</stiffness>
    <damping>1</damping>
    <friction>0.03</friction>
  </joint>

  <joint>
    <name>joint14</name>
    <stiffness>0.4</stiffness>
    <damping>1</damping>
    <friction>0.03</friction>
  </joint>

  <joint>
    <name>joint15</name>
    <stiffness>0.4</stiffness>
    <damping>1</damping>
    <friction>0.03</friction>
  </joint>

  <joint>
    <name>joint16</name>
    <stiffness>0.4</stiffness>
    <damping>1</damping>
    <friction>0.03</friction>
  </joint>

  <joint>
    <name>joint17</name>
    <stiffness>0.4</stiffness>
    <damping>1</damping>
    <friction>0.03</friction>
  </joint>

  <joint>
    <name>joint18</name>
    <stiffness>0.4</stiffness>
    <damping>1</damping>
    <friction>0.03</friction>
  </joint>

  <joint>
    <name>joint19</name>
    <stiffness>0.4</stiffness>
    <damping>1</damping>
    <friction>0.03</friction>
  </joint>

  <joint>
    <name>joint20</name>
    <stiffness>0.4</stiffness>
    <damping>1</damping>
    <friction>0.03</friction>
  </joint>

  <joint>
    <name>joint22</name>
    <stiffness>0.4</stiffness>
    <damping>1</damping>
    <friction>0.03</friction>
  </joint>

  <joint>
    <name>joint23</name>
    <stiffness>0.4</stiffness>
    <damping>1</damping>
    <friction>0.03</friction>
  </joint>

  <joint>
    <name>joint24</name>
    <stiffness>0.4</stiffness>
    <damping>1</damping>
    <friction>0.03</friction>
  </joint>

  <joint>
    <name>joint25</name>
    <stiffness>0.4</stiffness>
    <damping>1</damping>
    <friction>0.03</friction>
  </joint>

  <joint>
    <name>joint26</name>
    <stiffness>0.4</stiffness>
    <damping>1</damping>
    <friction>0.03</friction>
  </joint>

  <joint>
    <name>joint27</name>
    <stiffness>0.4</stiffness>
    <damping>1</damping>
    <friction>0.03</friction>
  </joint>

  <joint>
    <name>joint28</name>
    <stiffness>0.4</stiffness>
    <damping>1</damping>
    <friction>0.03</friction>
  </joint>

  <joint>
    <name>joint29</name>
    <stiffness>0.4</stiffness>
    <damping>1</damping>
    <friction>0.03</friction>
  </joint>

  <joint>
    <name>joint30</name>
    <stiffness>0.4</stiffness>
    <damping>1</damping>
    <friction>0.03</friction>
  </joint>

  <joint>
    <name>joint32</name>
    <stiffness>0.4</stiffness>
    <damping>1</damping>
    <friction>0.03</friction>
  </joint>

  <joint>
    <name>joint33</name>
    <stiffness>0.4</stiffness>
    <damping>1</damping>
    <friction>0.03</friction>
  </joint>

  <joint>
    <name>joint34</name>
    <stiffness>0.4</stiffness>
    <damping>1</damping>
    <friction>0.03</friction>
  </joint>

  <joint>
    <name>joint35</name>
    <stiffness>0.4</stiffness>
    <damping>1</damping>
    <friction>0.03</friction>
  </joint>

  <joint>
    <name>joint36</name>
    <stiffness>0.4</stiffness>
    <damping>1</damping>
    <friction>0.03</friction>
  </joint>

  <joint>
    <name>joint37</name>
    <stiffness>0.4</stiffness>
    <damping>1</damping>
    <friction>0.03</friction>
  </joint>

  <joint>
    <name>joint38</name>
    <stiffness>0.4</stiffness>
    <damping>1</damping>
    <friction>0.03</friction>
  </joint>

  <joint>
    <name>joint39</name>
    <stiffness>0.4</stiffness>
    <damping>1</damping>
    <friction>0.03</friction>
  </joint>

  <joint>
    <name>joint40</name>
    <stiffness>0.4</stiffness>
    <damping>1</damping>
    <friction>0.03</friction>
  </joint>

  <joint>
    <name>joint42</name>
    <stiffness>0.4</stiffness>
    <damping>1</damping>
    <friction>0.03</friction>
  </joint>

  <joint>
    <name>joint43</name>
    <stiffness>0.4</stiffness>
    <damping>1</damping>
    <friction>0.03</friction>
  </joint>

  <joint>
    <name>joint44</name>
    <stiffness>0.4</stiffness>
    <damping>1</damping>
    <friction>0.03</friction>
  </joint>

  <joint>
    <name>joint45</name>
    <stiffness>0.4</stiffness>
    <damping>1</damping>
    <friction>0.03</friction>
  </joint>

  <joint>
    <name>joint46</name>
    <stiffness>0.4</stiffness>
    <damping>1</damping>
    <friction>0.03</friction>
  </joint>

  <joint>
    <name>joint47</name>
    <stiffness>0.4</stiffness>
    <damping>1</damping>
    <friction>0.03</friction>
  </joint>

  <joint>
    <name>joint48</name>
    <stiffness>0.4</stiffness>
    <damping>1</damping>
    <friction>0.03</friction>
  </joint>

  <joint>
    <name>joint49</name>
    <stiffness>0.4</stiffness>
    <damping>1</damping>
    <friction>0.03</friction>
  </joint>

  <joint>
    <name>joint50</name>
    <stiffness>0.4</stiffness>
    <damping>1</damping>
    <friction>0.03</friction>
  </joint>

  </plugin>

  </gazebo>
</robot>
